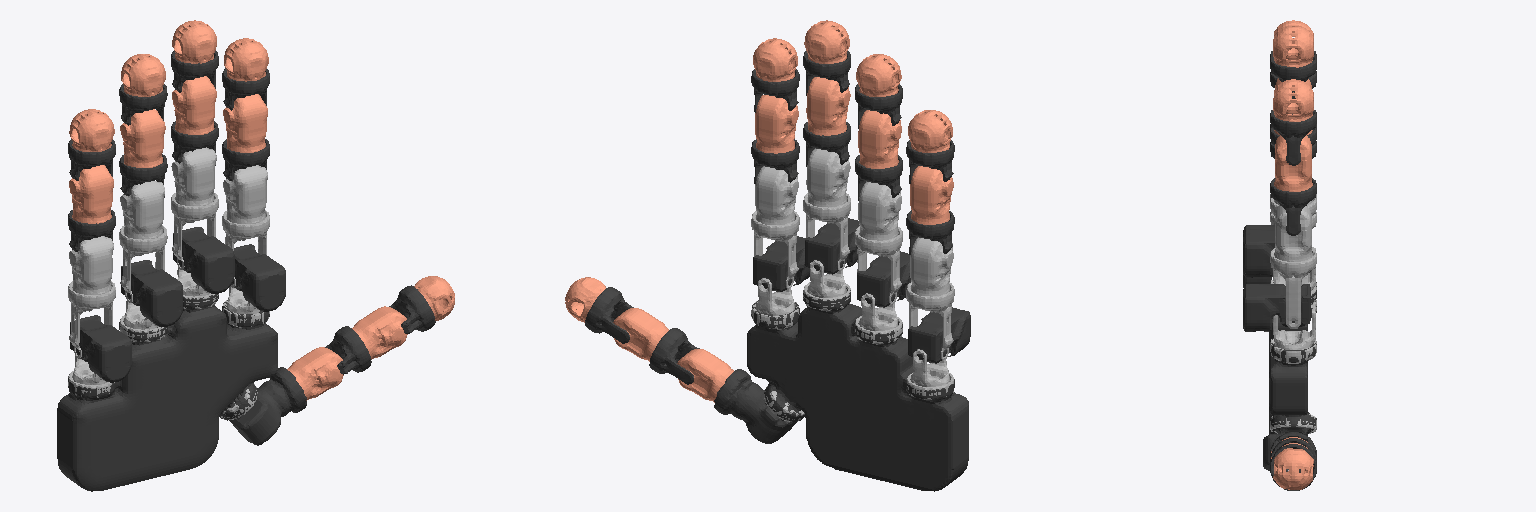
--- Render facts (derived) ---
The picture shows the robot from 3 angles, left to right: view 1: azimuth 30°, elevation 25°; view 2: azimuth 150°, elevation 25°; view 3: azimuth 270°, elevation 25°; orthographic projection.
Model hand_robot with 60 links and 59 joints (19 revolute, 40 fixed), rooted at base_link, posed all joints at 0.
Visible links, largest first — view 1: base_link, thumb_module1_link1, middle_module1_link1, ring_module1_link1, little_module1_link1, index_module1_link1, little_module2_base_link, index_module2_base_link, ring_module2_base_link, middle_module2_base_link, ring_module3_base_link, index_module3_base_link (+24 smaller); view 2: base_link, thumb_module1_link1, little_module1_link1, middle_module3_base_link, ring_module3_base_link, little_module3_base_link, little_module2_base_link, ring_module2_base_link, index_module3_base_link, middle_module2_base_link, index_module2_base_link, index_module1_link1 (+27 smaller); view 3: base_link, index_module1_link1, index_module2_base_link, index_module3_base_link, index_module1_link2, index_module4_base_link, middle_module4_base_link, middle_module1_link1, thumb_module4_base_link, index_module2_link1, index_module3_link1, index_module1_base_link (+2 smaller).
Boxes of the visible links, box(x1,y1,x2,y2) form: base_link: box(57, 294, 277, 491); thumb_module1_link1: box(229, 367, 306, 445); middle_module1_link1: box(173, 227, 234, 293); ring_module1_link1: box(121, 260, 182, 326); little_module1_link1: box(70, 315, 131, 382); index_module1_link1: box(232, 244, 285, 311); little_module2_base_link: box(69, 236, 113, 294); index_module2_base_link: box(223, 165, 267, 223); ring_module2_base_link: box(120, 181, 164, 239); middle_module2_base_link: box(171, 147, 216, 205); ring_module3_base_link: box(120, 109, 165, 167); index_module3_base_link: box(223, 94, 267, 152); base_link: box(747, 288, 968, 491); thumb_module1_link1: box(714, 369, 796, 443); little_module1_link1: box(908, 307, 970, 363); middle_module3_base_link: box(806, 77, 850, 135); ring_module3_base_link: box(858, 110, 901, 168); little_module3_base_link: box(910, 166, 953, 224); little_module2_base_link: box(910, 237, 953, 296); ring_module2_base_link: box(858, 181, 901, 240); index_module3_base_link: box(755, 95, 798, 153); middle_module2_base_link: box(806, 148, 850, 207); index_module2_base_link: box(755, 166, 798, 224); index_module1_link1: box(753, 236, 809, 291); base_link: box(1269, 282, 1316, 434); index_module1_link1: box(1243, 284, 1311, 331); index_module2_base_link: box(1274, 204, 1312, 261); index_module3_base_link: box(1274, 135, 1312, 191); index_module1_link2: box(1270, 248, 1316, 328); index_module4_base_link: box(1273, 79, 1313, 121); middle_module4_base_link: box(1273, 25, 1313, 67); middle_module1_link1: box(1243, 229, 1274, 277); thumb_module4_base_link: box(1273, 448, 1313, 489); index_module2_link1: box(1270, 178, 1316, 235); index_module3_link1: box(1270, 110, 1316, 165); index_module1_base_link: box(1273, 306, 1315, 349).
Size in the robot's own frame: 0.4164 by 0.0704 by 0.446 metres.
Meshes: 20 distinct files referenced, 60 mesh visuals loaded (20 Collada DAE).

robot.urdf — hand_robot:
<?xml version='1.0' encoding='UTF-8'?>
<robot name="hand_robot">
  <link name="base_link">
    <inertial>
      <origin xyz="-0.0537837189568639 -0.000735089523891269 0.0875877825389031" rpy="0.0 -0.0 0.0"/>
      <mass value="0.274553101575067"/>
      <inertia ixx="0.000434149537516523" ixy="3.82592618679265e-06" ixz="-0.000192550140415889" iyy="0.00117466284857924" iyz="1.01174695313173e-05" izz="0.000782483739198173"/>
    </inertial>
    <visual>
      <geometry>
        <mesh filename="package://palm/meshes/base_link_remeshed.dae"/>
      </geometry>
      <material name="__unnamed_material_1"/>
      <origin xyz="0.0 0.0 0.0" rpy="0.0 -0.0 0.0"/>
    </visual>
    <collision>
      <geometry>
        <mesh filename="package://palm/meshes/base_link_remeshed.stl"/>
      </geometry>
      <origin xyz="0.0 0.0 0.0" rpy="0.0 -0.0 0.0"/>
    </collision>
  </link>
  <link name="dummy_link1">
    <inertial>
      <origin xyz="-0.000172481557313531 6.01982933235365e-05 -0.00259009685862507" rpy="0.0 -0.0 0.0"/>
      <mass value="0.0119886897783525"/>
      <inertia ixx="1.92006679954346e-06" ixy="2.28901701935475e-09" ixz="-5.68819834183881e-09" iyy="1.95430556833594e-06" iyz="6.27899886931677e-10" izz="3.69885599478183e-06"/>
    </inertial>
    <visual>
      <geometry>
        <mesh filename="package://palm/meshes/dummy_link1_remeshed.dae"/>
      </geometry>
      <material name="__unnamed_material_2"/>
      <origin xyz="0.0 0.0 0.0" rpy="0.0 -0.0 0.0"/>
    </visual>
    <collision>
      <geometry>
        <mesh filename="package://palm/meshes/dummy_link1_remeshed.stl"/>
      </geometry>
      <origin xyz="0.0 0.0 0.0" rpy="0.0 -0.0 0.0"/>
    </collision>
  </link>
  <link name="dummy_link2">
    <inertial>
      <origin xyz="-0.000172481557313628 6.01982933235283e-05 -0.00259009685862507" rpy="0.0 -0.0 0.0"/>
      <mass value="0.0119886897783526"/>
      <inertia ixx="1.92006679954346e-06" ixy="2.28901701935204e-09" ixz="-5.68819834183908e-09" iyy="1.95430556833594e-06" iyz="6.27899886931739e-10" izz="3.69885599478183e-06"/>
    </inertial>
    <visual>
      <geometry>
        <mesh filename="package://palm/meshes/dummy_link2_remeshed.dae"/>
      </geometry>
      <material name="__unnamed_material_3"/>
      <origin xyz="0.0 0.0 0.0" rpy="0.0 -0.0 0.0"/>
    </visual>
    <collision>
      <geometry>
        <mesh filename="package://palm/meshes/dummy_link2_remeshed.stl"/>
      </geometry>
      <origin xyz="0.0 0.0 0.0" rpy="0.0 -0.0 0.0"/>
    </collision>
  </link>
  <link name="dummy_link3">
    <inertial>
      <origin xyz="-0.000172481557313607 6.01982933235322e-05 -0.00259009685862505" rpy="0.0 -0.0 0.0"/>
      <mass value="0.0119886897783526"/>
      <inertia ixx="1.92006679954346e-06" ixy="2.28901701935102e-09" ixz="-5.68819834183894e-09" iyy="1.95430556833594e-06" iyz="6.2789988693156e-10" izz="3.69885599478183e-06"/>
    </inertial>
    <visual>
      <geometry>
        <mesh filename="package://palm/meshes/dummy_link3_remeshed.dae"/>
      </geometry>
      <material name="__unnamed_material_4"/>
      <origin xyz="0.0 0.0 0.0" rpy="0.0 -0.0 0.0"/>
    </visual>
    <collision>
      <geometry>
        <mesh filename="package://palm/meshes/dummy_link3_remeshed.stl"/>
      </geometry>
      <origin xyz="0.0 0.0 0.0" rpy="0.0 -0.0 0.0"/>
    </collision>
  </link>
  <link name="dummy_link4">
    <inertial>
      <origin xyz="-0.00017248155731359 6.01982933235428e-05 -0.00259009685862505" rpy="0.0 -0.0 0.0"/>
      <mass value="0.0119886897783526"/>
      <inertia ixx="1.92006679954347e-06" ixy="2.28901701935341e-09" ixz="-5.68819834183874e-09" iyy="1.95430556833594e-06" iyz="6.27899886931517e-10" izz="3.69885599478184e-06"/>
    </inertial>
    <visual>
      <geometry>
        <mesh filename="package://palm/meshes/dummy_link4_remeshed.dae"/>
      </geometry>
      <material name="__unnamed_material_5"/>
      <origin xyz="0.0 0.0 0.0" rpy="0.0 -0.0 0.0"/>
    </visual>
    <collision>
      <geometry>
        <mesh filename="package://palm/meshes/dummy_link4_remeshed.stl"/>
      </geometry>
      <origin xyz="0.0 0.0 0.0" rpy="0.0 -0.0 0.0"/>
    </collision>
  </link>
  <link name="dummy_link5">
    <inertial>
      <origin xyz="-0.000172556814431887 6.02216550355177e-05 -0.00259010777209796" rpy="0.0 -0.0 0.0"/>
      <mass value="0.0119886601362974"/>
      <inertia ixx="1.9201418091373e-06" ixy="2.27696720708466e-09" ixz="-5.68868325973998e-09" iyy="1.95428446813742e-06" iyz="6.2782306321744e-10" izz="3.6989097395101e-06"/>
    </inertial>
    <visual>
      <geometry>
        <mesh filename="package://palm/meshes/dummy_link5_remeshed.dae"/>
      </geometry>
      <material name="__unnamed_material_6"/>
      <origin xyz="0.0 0.0 0.0" rpy="0.0 -0.0 0.0"/>
    </visual>
    <collision>
      <geometry>
        <mesh filename="package://palm/meshes/dummy_link5_remeshed.stl"/>
      </geometry>
      <origin xyz="0.0 0.0 0.0" rpy="0.0 -0.0 0.0"/>
    </collision>
  </link>
  <link name="little_module1_base_link">
    <inertial>
      <origin xyz="-0.000213433946328543 -0.000522257566248314 0.010512356078851" rpy="0.0 -0.0 0.0"/>
      <mass value="0.0119791718336502"/>
      <inertia ixx="1.31621870893497e-06" ixy="-5.13940617703683e-09" ixz="6.92655022774858e-09" iyy="1.42670892278346e-06" iyz="5.85355266632325e-09" izz="1.57468742862286e-06"/>
    </inertial>
    <visual>
      <geometry>
        <mesh filename="package://screw_cross_module_cover_invert_50mm/meshes/base_link_remeshed.dae"/>
      </geometry>
      <material name="little_module1___unnamed_material_1"/>
      <origin xyz="0.0 0.0 0.0" rpy="0.0 -0.0 0.0"/>
    </visual>
    <collision>
      <geometry>
        <mesh filename="package://screw_cross_module_cover_invert_50mm/meshes/base_link_remeshed.stl"/>
      </geometry>
      <origin xyz="0.0 0.0 0.0" rpy="0.0 -0.0 0.0"/>
    </collision>
  </link>
  <link name="little_module1_link1">
    <inertial>
      <origin xyz="2.40548098907604e-05 0.0170200166175038 0.00743211422338727" rpy="0.0 -0.0 0.0"/>
      <mass value="0.0528420021206123"/>
      <inertia ixx="8.46927525862569e-06" ixy="3.77104103813554e-08" ixz="-2.40264131836263e-09" iyy="9.18514204610879e-06" iyz="3.33117292501083e-07" izz="7.42897064027825e-06"/>
    </inertial>
    <visual>
      <geometry>
        <mesh filename="package://screw_cross_module_cover_invert_50mm/meshes/link1_remeshed.dae"/>
      </geometry>
      <material name="little_module1___unnamed_material_2"/>
      <origin xyz="0.0 0.0 0.0" rpy="0.0 -0.0 0.0"/>
    </visual>
    <collision>
      <geometry>
        <mesh filename="package://screw_cross_module_cover_invert_50mm/meshes/link1_remeshed.stl"/>
      </geometry>
      <origin xyz="0.0 0.0 0.0" rpy="0.0 -0.0 0.0"/>
    </collision>
  </link>
  <link name="little_module1_link2">
    <inertial>
      <origin xyz="-0.000799904651096249 0.000126545018078978 0.0439031855091127" rpy="0.0 -0.0 0.0"/>
      <mass value="0.0184890044461961"/>
      <inertia ixx="3.86018266499349e-06" ixy="-2.57346007074634e-09" ixz="-1.33830705751634e-08" iyy="3.71216828080987e-06" iyz="1.02631852497554e-09" izz="3.85438258007771e-06"/>
    </inertial>
    <visual>
      <geometry>
        <mesh filename="package://screw_cross_module_cover_invert_50mm/meshes/link2_remeshed.dae"/>
      </geometry>
      <material name="little_module1___unnamed_material_3"/>
      <origin xyz="0.0 0.0 0.0" rpy="0.0 -0.0 0.0"/>
    </visual>
    <collision>
      <geometry>
        <mesh filename="package://screw_cross_module_cover_invert_50mm/meshes/link2_remeshed.stl"/>
      </geometry>
      <origin xyz="0.0 0.0 0.0" rpy="0.0 -0.0 0.0"/>
    </collision>
  </link>
  <link name="little_module1_dummy_link">
    <inertial>
      <origin xyz="-0.00146131369472048 0.000201870283507455 -0.00283550060362608" rpy="0.0 -0.0 0.0"/>
      <mass value="0.00131295075943631"/>
      <inertia ixx="5.41755504446202e-08" ixy="1.27650591705179e-09" ixz="-4.82976525885559e-09" iyy="5.88144881419791e-08" iyz="3.56234285318554e-10" izz="1.05520720481508e-07"/>
    </inertial>
    <visual>
      <geometry>
        <mesh filename="package://screw_cross_module_cover_invert_50mm/meshes/dummy_link_remeshed.dae"/>
      </geometry>
      <material name="little_module1___unnamed_material_4"/>
      <origin xyz="0.0 0.0 0.0" rpy="0.0 -0.0 0.0"/>
    </visual>
    <collision>
      <geometry>
        <mesh filename="package://screw_cross_module_cover_invert_50mm/meshes/dummy_link_remeshed.stl"/>
      </geometry>
      <origin xyz="0.0 0.0 0.0" rpy="0.0 -0.0 0.0"/>
    </collision>
  </link>
  <link name="little_module2_base_link">
    <inertial>
      <origin xyz="-0.000397243037985137 -0.000299123988951571 0.0268900174967925" rpy="0.0 -0.0 0.0"/>
      <mass value="0.0392907478850212"/>
      <inertia ixx="6.49315163386437e-06" ixy="-1.58700153015025e-07" ixz="1.07943557378575e-07" iyy="7.59585884582494e-06" iyz="-1.02493309535865e-09" izz="5.32693747823652e-06"/>
    </inertial>
    <visual>
      <geometry>
        <mesh filename="package://screw_26mmhinge_module_cover_0deg/meshes/base_link_remeshed.dae"/>
      </geometry>
      <material name="little_module2___unnamed_material_1"/>
      <origin xyz="0.0 0.0 0.0" rpy="0.0 -0.0 0.0"/>
    </visual>
    <collision>
      <geometry>
        <mesh filename="package://screw_26mmhinge_module_cover_0deg/meshes/base_link_remeshed.stl"/>
      </geometry>
      <origin xyz="0.0 0.0 0.0" rpy="0.0 -0.0 0.0"/>
    </collision>
  </link>
  <link name="little_module2_link1">
    <inertial>
      <origin xyz="0.00050176181802974 0.000131881332311372 0.0261566388593281" rpy="0.0 -0.0 0.0"/>
      <mass value="0.015679495466009"/>
      <inertia ixx="2.36251577154097e-06" ixy="-2.28902268828607e-09" ixz="1.04881203366641e-08" iyy="2.26742863290264e-06" iyz="5.68818291644029e-09" izz="3.78920030884968e-06"/>
    </inertial>
    <visual>
      <geometry>
        <mesh filename="package://screw_26mmhinge_module_cover_0deg/meshes/link1_remeshed.dae"/>
      </geometry>
      <material name="little_module2___unnamed_material_2"/>
      <origin xyz="0.0 0.0 0.0" rpy="0.0 -0.0 0.0"/>
    </visual>
    <collision>
      <geometry>
        <mesh filename="package://screw_26mmhinge_module_cover_0deg/meshes/link1_remeshed.stl"/>
      </geometry>
      <origin xyz="0.0 0.0 0.0" rpy="0.0 -0.0 0.0"/>
    </collision>
  </link>
  <link name="little_module2_dummy_link">
    <inertial>
      <origin xyz="-0.0014613136949066 0.000201870283592702 -0.00283550060370832" rpy="0.0 -0.0 0.0"/>
      <mass value="0.00131295075943631"/>
      <inertia ixx="5.41755504446753e-08" ixy="1.27650591704971e-09" ixz="-4.82976525914748e-09" iyy="5.88144881419792e-08" iyz="3.56234285325651e-10" izz="1.05520720481453e-07"/>
    </inertial>
    <visual>
      <geometry>
        <mesh filename="package://screw_26mmhinge_module_cover_0deg/meshes/dummy_link_remeshed.dae"/>
      </geometry>
      <material name="little_module2___unnamed_material_3"/>
      <origin xyz="0.0 0.0 0.0" rpy="0.0 -0.0 0.0"/>
    </visual>
    <collision>
      <geometry>
        <mesh filename="package://screw_26mmhinge_module_cover_0deg/meshes/dummy_link_remeshed.stl"/>
      </geometry>
      <origin xyz="0.0 0.0 0.0" rpy="0.0 -0.0 0.0"/>
    </collision>
  </link>
  <link name="little_module3_base_link">
    <inertial>
      <origin xyz="-0.000401252669389229 -0.000241503883848603 0.0265833789284656" rpy="0.0 -0.0 0.0"/>
      <mass value="0.0388983022333583"/>
      <inertia ixx="6.28968153745185e-06" ixy="-1.58891717516252e-07" ixz="1.06958872572826e-07" iyy="7.30853508101172e-06" iyz="2.75384527151901e-08" izz="5.23270325750328e-06"/>
    </inertial>
    <visual>
      <geometry>
        <mesh filename="package://screw_26mmhinge_module_cover_40deg/meshes/base_link_remeshed.dae"/>
      </geometry>
      <material name="little_module3___unnamed_material_1"/>
      <origin xyz="0.0 0.0 0.0" rpy="0.0 -0.0 0.0"/>
    </visual>
    <collision>
      <geometry>
        <mesh filename="package://screw_26mmhinge_module_cover_40deg/meshes/base_link_remeshed.stl"/>
      </geometry>
      <origin xyz="0.0 0.0 0.0" rpy="0.0 -0.0 0.0"/>
    </collision>
  </link>
  <link name="little_module3_link1">
    <inertial>
      <origin xyz="0.00050176181802974 0.000131881332311375 0.0261566388593281" rpy="0.0 -0.0 0.0"/>
      <mass value="0.0156794954660089"/>
      <inertia ixx="2.36251577154097e-06" ixy="-2.28902268828719e-09" ixz="1.04881203366649e-08" iyy="2.26742863290264e-06" iyz="5.68818291644002e-09" izz="3.78920030884968e-06"/>
    </inertial>
    <visual>
      <geometry>
        <mesh filename="package://screw_26mmhinge_module_cover_40deg/meshes/link1_remeshed.dae"/>
      </geometry>
      <material name="little_module3___unnamed_material_2"/>
      <origin xyz="0.0 0.0 0.0" rpy="0.0 -0.0 0.0"/>
    </visual>
    <collision>
      <geometry>
        <mesh filename="package://screw_26mmhinge_module_cover_40deg/meshes/link1_remeshed.stl"/>
      </geometry>
      <origin xyz="0.0 0.0 0.0" rpy="0.0 -0.0 0.0"/>
    </collision>
  </link>
  <link name="little_module3_dummy_link">
    <inertial>
      <origin xyz="-0.0014613136949066 0.000201870283592712 -0.00283550060370834" rpy="0.0 -0.0 0.0"/>
      <mass value="0.00131295075943631"/>
      <inertia ixx="5.41755504446752e-08" ixy="1.27650591704971e-09" ixz="-4.82976525914747e-09" iyy="5.88144881419792e-08" iyz="3.56234285325664e-10" izz="1.05520720481453e-07"/>
    </inertial>
    <visual>
      <geometry>
        <mesh filename="package://screw_26mmhinge_module_cover_40deg/meshes/dummy_link_remeshed.dae"/>
      </geometry>
      <material name="little_module3___unnamed_material_3"/>
      <origin xyz="0.0 0.0 0.0" rpy="0.0 -0.0 0.0"/>
    </visual>
    <collision>
      <geometry>
        <mesh filename="package://screw_26mmhinge_module_cover_40deg/meshes/dummy_link_remeshed.stl"/>
      </geometry>
      <origin xyz="0.0 0.0 0.0" rpy="0.0 -0.0 0.0"/>
    </collision>
  </link>
  <link name="little_module4_base_link">
    <inertial>
      <origin xyz="-4.45136749414631e-05 2.74911354251475e-05 0.01526296474957" rpy="0.0 -0.0 0.0"/>
      <mass value="0.0143355339373342"/>
      <inertia ixx="1.67198153889703e-06" ixy="-3.86118634343168e-09" ixz="2.09684473771432e-09" iyy="2.41636111915256e-06" iyz="2.62797611358753e-09" izz="2.60259577595367e-06"/>
    </inertial>
    <visual>
      <geometry>
        <mesh filename="package://fingertip/meshes/base_link_remeshed.dae"/>
      </geometry>
      <material name="little_module4___unnamed_material_1"/>
      <origin xyz="0.0 0.0 0.0" rpy="0.0 -0.0 0.0"/>
    </visual>
    <collision>
      <geometry>
        <mesh filename="package://fingertip/meshes/base_link_remeshed.stl"/>
      </geometry>
      <origin xyz="0.0 0.0 0.0" rpy="0.0 -0.0 0.0"/>
    </collision>
  </link>
  <link name="ring_module1_base_link">
    <inertial>
      <origin xyz="-0.000213433946328543 -0.000522257566248314 0.010512356078851" rpy="0.0 -0.0 0.0"/>
      <mass value="0.0119791718336502"/>
      <inertia ixx="1.31621870893497e-06" ixy="-5.13940617703683e-09" ixz="6.92655022774858e-09" iyy="1.42670892278346e-06" iyz="5.85355266632325e-09" izz="1.57468742862286e-06"/>
    </inertial>
    <visual>
      <geometry>
        <mesh filename="package://screw_cross_module_cover_invert_50mm/meshes/base_link_remeshed.dae"/>
      </geometry>
      <material name="ring_module1___unnamed_material_1"/>
      <origin xyz="0.0 0.0 0.0" rpy="0.0 -0.0 0.0"/>
    </visual>
    <collision>
      <geometry>
        <mesh filename="package://screw_cross_module_cover_invert_50mm/meshes/base_link_remeshed.stl"/>
      </geometry>
      <origin xyz="0.0 0.0 0.0" rpy="0.0 -0.0 0.0"/>
    </collision>
  </link>
  <link name="ring_module1_link1">
    <inertial>
      <origin xyz="2.40548098907604e-05 0.0170200166175038 0.00743211422338727" rpy="0.0 -0.0 0.0"/>
      <mass value="0.0528420021206123"/>
      <inertia ixx="8.46927525862569e-06" ixy="3.77104103813554e-08" ixz="-2.40264131836263e-09" iyy="9.18514204610879e-06" iyz="3.33117292501083e-07" izz="7.42897064027825e-06"/>
    </inertial>
    <visual>
      <geometry>
        <mesh filename="package://screw_cross_module_cover_invert_50mm/meshes/link1_remeshed.dae"/>
      </geometry>
      <material name="ring_module1___unnamed_material_2"/>
      <origin xyz="0.0 0.0 0.0" rpy="0.0 -0.0 0.0"/>
    </visual>
    <collision>
      <geometry>
        <mesh filename="package://screw_cross_module_cover_invert_50mm/meshes/link1_remeshed.stl"/>
      </geometry>
      <origin xyz="0.0 0.0 0.0" rpy="0.0 -0.0 0.0"/>
    </collision>
  </link>
  <link name="ring_module1_link2">
    <inertial>
      <origin xyz="-0.000799904651096249 0.000126545018078978 0.0439031855091127" rpy="0.0 -0.0 0.0"/>
      <mass value="0.0184890044461961"/>
      <inertia ixx="3.86018266499349e-06" ixy="-2.57346007074634e-09" ixz="-1.33830705751634e-08" iyy="3.71216828080987e-06" iyz="1.02631852497554e-09" izz="3.85438258007771e-06"/>
    </inertial>
    <visual>
      <geometry>
        <mesh filename="package://screw_cross_module_cover_invert_50mm/meshes/link2_remeshed.dae"/>
      </geometry>
      <material name="ring_module1___unnamed_material_3"/>
      <origin xyz="0.0 0.0 0.0" rpy="0.0 -0.0 0.0"/>
    </visual>
    <collision>
      <geometry>
        <mesh filename="package://screw_cross_module_cover_invert_50mm/meshes/link2_remeshed.stl"/>
      </geometry>
      <origin xyz="0.0 0.0 0.0" rpy="0.0 -0.0 0.0"/>
    </collision>
  </link>
  <link name="ring_module1_dummy_link">
    <inertial>
      <origin xyz="-0.00146131369472048 0.000201870283507455 -0.00283550060362608" rpy="0.0 -0.0 0.0"/>
      <mass value="0.00131295075943631"/>
      <inertia ixx="5.41755504446202e-08" ixy="1.27650591705179e-09" ixz="-4.82976525885559e-09" iyy="5.88144881419791e-08" iyz="3.56234285318554e-10" izz="1.05520720481508e-07"/>
    </inertial>
    <visual>
      <geometry>
        <mesh filename="package://screw_cross_module_cover_invert_50mm/meshes/dummy_link_remeshed.dae"/>
      </geometry>
      <material name="ring_module1___unnamed_material_4"/>
      <origin xyz="0.0 0.0 0.0" rpy="0.0 -0.0 0.0"/>
    </visual>
    <collision>
      <geometry>
        <mesh filename="package://screw_cross_module_cover_invert_50mm/meshes/dummy_link_remeshed.stl"/>
      </geometry>
      <origin xyz="0.0 0.0 0.0" rpy="0.0 -0.0 0.0"/>
    </collision>
  </link>
  <link name="ring_module2_base_link">
    <inertial>
      <origin xyz="-0.000397243037985137 -0.000299123988951571 0.0268900174967925" rpy="0.0 -0.0 0.0"/>
      <mass value="0.0392907478850212"/>
      <inertia ixx="6.49315163386437e-06" ixy="-1.58700153015025e-07" ixz="1.07943557378575e-07" iyy="7.59585884582494e-06" iyz="-1.02493309535865e-09" izz="5.32693747823652e-06"/>
    </inertial>
    <visual>
      <geometry>
        <mesh filename="package://screw_26mmhinge_module_cover_0deg/meshes/base_link_remeshed.dae"/>
      </geometry>
      <material name="ring_module2___unnamed_material_1"/>
      <origin xyz="0.0 0.0 0.0" rpy="0.0 -0.0 0.0"/>
    </visual>
    <collision>
      <geometry>
        <mesh filename="package://screw_26mmhinge_module_cover_0deg/meshes/base_link_remeshed.stl"/>
      </geometry>
      <origin xyz="0.0 0.0 0.0" rpy="0.0 -0.0 0.0"/>
    </collision>
  </link>
  <link name="ring_module2_link1">
    <inertial>
      <origin xyz="0.00050176181802974 0.000131881332311372 0.0261566388593281" rpy="0.0 -0.0 0.0"/>
      <mass value="0.015679495466009"/>
      <inertia ixx="2.36251577154097e-06" ixy="-2.28902268828607e-09" ixz="1.04881203366641e-08" iyy="2.26742863290264e-06" iyz="5.68818291644029e-09" izz="3.78920030884968e-06"/>
    </inertial>
    <visual>
      <geometry>
        <mesh filename="package://screw_26mmhinge_module_cover_0deg/meshes/link1_remeshed.dae"/>
      </geometry>
      <material name="ring_module2___unnamed_material_2"/>
      <origin xyz="0.0 0.0 0.0" rpy="0.0 -0.0 0.0"/>
    </visual>
    <collision>
      <geometry>
        <mesh filename="package://screw_26mmhinge_module_cover_0deg/meshes/link1_remeshed.stl"/>
      </geometry>
      <origin xyz="0.0 0.0 0.0" rpy="0.0 -0.0 0.0"/>
    </collision>
  </link>
  <link name="ring_module2_dummy_link">
    <inertial>
      <origin xyz="-0.0014613136949066 0.000201870283592702 -0.00283550060370832" rpy="0.0 -0.0 0.0"/>
      <mass value="0.00131295075943631"/>
      <inertia ixx="5.41755504446753e-08" ixy="1.27650591704971e-09" ixz="-4.82976525914748e-09" iyy="5.88144881419792e-08" iyz="3.56234285325651e-10" izz="1.05520720481453e-07"/>
    </inertial>
    <visual>
      <geometry>
        <mesh filename="package://screw_26mmhinge_module_cover_0deg/meshes/dummy_link_remeshed.dae"/>
      </geometry>
      <material name="ring_module2___unnamed_material_3"/>
      <origin xyz="0.0 0.0 0.0" rpy="0.0 -0.0 0.0"/>
    </visual>
    <collision>
      <geometry>
        <mesh filename="package://screw_26mmhinge_module_cover_0deg/meshes/dummy_link_remeshed.stl"/>
      </geometry>
      <origin xyz="0.0 0.0 0.0" rpy="0.0 -0.0 0.0"/>
    </collision>
  </link>
  <link name="ring_module3_base_link">
    <inertial>
      <origin xyz="-0.000401252669389229 -0.000241503883848603 0.0265833789284656" rpy="0.0 -0.0 0.0"/>
      <mass value="0.0388983022333583"/>
      <inertia ixx="6.28968153745185e-06" ixy="-1.58891717516252e-07" ixz="1.06958872572826e-07" iyy="7.30853508101172e-06" iyz="2.75384527151901e-08" izz="5.23270325750328e-06"/>
    </inertial>
    <visual>
      <geometry>
        <mesh filename="package://screw_26mmhinge_module_cover_40deg/meshes/base_link_remeshed.dae"/>
      </geometry>
      <material name="ring_module3___unnamed_material_1"/>
      <origin xyz="0.0 0.0 0.0" rpy="0.0 -0.0 0.0"/>
    </visual>
    <collision>
      <geometry>
        <mesh filename="package://screw_26mmhinge_module_cover_40deg/meshes/base_link_remeshed.stl"/>
      </geometry>
      <origin xyz="0.0 0.0 0.0" rpy="0.0 -0.0 0.0"/>
    </collision>
  </link>
  <link name="ring_module3_link1">
    <inertial>
      <origin xyz="0.00050176181802974 0.000131881332311375 0.0261566388593281" rpy="0.0 -0.0 0.0"/>
      <mass value="0.0156794954660089"/>
      <inertia ixx="2.36251577154097e-06" ixy="-2.28902268828719e-09" ixz="1.04881203366649e-08" iyy="2.26742863290264e-06" iyz="5.68818291644002e-09" izz="3.78920030884968e-06"/>
    </inertial>
    <visual>
      <geometry>
        <mesh filename="package://screw_26mmhinge_module_cover_40deg/meshes/link1_remeshed.dae"/>
      </geometry>
      <material name="ring_module3___unnamed_material_2"/>
      <origin xyz="0.0 0.0 0.0" rpy="0.0 -0.0 0.0"/>
    </visual>
    <collision>
      <geometry>
        <mesh filename="package://screw_26mmhinge_module_cover_40deg/meshes/link1_remeshed.stl"/>
      </geometry>
      <origin xyz="0.0 0.0 0.0" rpy="0.0 -0.0 0.0"/>
    </collision>
  </link>
  <link name="ring_module3_dummy_link">
    <inertial>
      <origin xyz="-0.0014613136949066 0.000201870283592712 -0.00283550060370834" rpy="0.0 -0.0 0.0"/>
      <mass value="0.00131295075943631"/>
      <inertia ixx="5.41755504446752e-08" ixy="1.27650591704971e-09" ixz="-4.82976525914747e-09" iyy="5.88144881419792e-08" iyz="3.56234285325664e-10" izz="1.05520720481453e-07"/>
    </inertial>
    <visual>
      <geometry>
        <mesh filename="package://screw_26mmhinge_module_cover_40deg/meshes/dummy_link_remeshed.dae"/>
      </geometry>
      <material name="ring_module3___unnamed_material_3"/>
      <origin xyz="0.0 0.0 0.0" rpy="0.0 -0.0 0.0"/>
    </visual>
    <collision>
      <geometry>
        <mesh filename="package://screw_26mmhinge_module_cover_40deg/meshes/dummy_link_remeshed.stl"/>
      </geometry>
      <origin xyz="0.0 0.0 0.0" rpy="0.0 -0.0 0.0"/>
    </collision>
  </link>
  <link name="ring_module4_base_link">
    <inertial>
      <origin xyz="-4.45136749414631e-05 2.74911354251475e-05 0.01526296474957" rpy="0.0 -0.0 0.0"/>
      <mass value="0.0143355339373342"/>
      <inertia ixx="1.67198153889703e-06" ixy="-3.86118634343168e-09" ixz="2.09684473771432e-09" iyy="2.41636111915256e-06" iyz="2.62797611358753e-09" izz="2.60259577595367e-06"/>
    </inertial>
    <visual>
      <geometry>
        <mesh filename="package://fingertip/meshes/base_link_remeshed.dae"/>
      </geometry>
      <material name="ring_module4___unnamed_material_1"/>
      <origin xyz="0.0 0.0 0.0" rpy="0.0 -0.0 0.0"/>
    </visual>
    <collision>
      <geometry>
        <mesh filename="package://fingertip/meshes/base_link_remeshed.stl"/>
      </geometry>
      <origin xyz="0.0 0.0 0.0" rpy="0.0 -0.0 0.0"/>
    </collision>
  </link>
  <link name="middle_module1_base_link">
    <inertial>
      <origin xyz="-0.000213433946328543 -0.000522257566248314 0.010512356078851" rpy="0.0 -0.0 0.0"/>
      <mass value="0.0119791718336502"/>
      <inertia ixx="1.31621870893497e-06" ixy="-5.13940617703683e-09" ixz="6.92655022774858e-09" iyy="1.42670892278346e-06" iyz="5.85355266632325e-09" izz="1.57468742862286e-06"/>
    </inertial>
    <visual>
      <geometry>
        <mesh filename="package://screw_cross_module_cover_invert_50mm/meshes/base_link_remeshed.dae"/>
      </geometry>
      <material name="middle_module1___unnamed_material_1"/>
      <origin xyz="0.0 0.0 0.0" rpy="0.0 -0.0 0.0"/>
    </visual>
    <collision>
      <geometry>
        <mesh filename="package://screw_cross_module_cover_invert_50mm/meshes/base_link_remeshed.stl"/>
      </geometry>
      <origin xyz="0.0 0.0 0.0" rpy="0.0 -0.0 0.0"/>
    </collision>
  </link>
  <link name="middle_module1_link1">
    <inertial>
      <origin xyz="2.40548098907604e-05 0.0170200166175038 0.00743211422338727" rpy="0.0 -0.0 0.0"/>
      <mass value="0.0528420021206123"/>
      <inertia ixx="8.46927525862569e-06" ixy="3.77104103813554e-08" ixz="-2.40264131836263e-09" iyy="9.18514204610879e-06" iyz="3.33117292501083e-07" izz="7.42897064027825e-06"/>
    </inertial>
    <visual>
      <geometry>
        <mesh filename="package://screw_cross_module_cover_invert_50mm/meshes/link1_remeshed.dae"/>
      </geometry>
      <material name="middle_module1___unnamed_material_2"/>
      <origin xyz="0.0 0.0 0.0" rpy="0.0 -0.0 0.0"/>
    </visual>
    <collision>
      <geometry>
        <mesh filename="package://screw_cross_module_cover_invert_50mm/meshes/link1_remeshed.stl"/>
      </geometry>
      <origin xyz="0.0 0.0 0.0" rpy="0.0 -0.0 0.0"/>
    </collision>
  </link>
  <link name="middle_module1_link2">
    <inertial>
      <origin xyz="-0.000799904651096249 0.000126545018078978 0.0439031855091127" rpy="0.0 -0.0 0.0"/>
      <mass value="0.0184890044461961"/>
      <inertia ixx="3.86018266499349e-06" ixy="-2.57346007074634e-09" ixz="-1.33830705751634e-08" iyy="3.71216828080987e-06" iyz="1.02631852497554e-09" izz="3.85438258007771e-06"/>
    </inertial>
    <visual>
      <geometry>
        <mesh filename="package://screw_cross_module_cover_invert_50mm/meshes/link2_remeshed.dae"/>
      </geometry>
      <material name="middle_module1___unnamed_material_3"/>
      <origin xyz="0.0 0.0 0.0" rpy="0.0 -0.0 0.0"/>
    </visual>
    <collision>
      <geometry>
        <mesh filename="package://screw_cross_module_cover_invert_50mm/meshes/link2_remeshed.stl"/>
      </geometry>
      <origin xyz="0.0 0.0 0.0" rpy="0.0 -0.0 0.0"/>
    </collision>
  </link>
  <link name="middle_module1_dummy_link">
    <inertial>
      <origin xyz="-0.00146131369472048 0.000201870283507455 -0.00283550060362608" rpy="0.0 -0.0 0.0"/>
      <mass value="0.00131295075943631"/>
      <inertia ixx="5.41755504446202e-08" ixy="1.27650591705179e-09" ixz="-4.82976525885559e-09" iyy="5.88144881419791e-08" iyz="3.56234285318554e-10" izz="1.05520720481508e-07"/>
    </inertial>
    <visual>
      <geometry>
        <mesh filename="package://screw_cross_module_cover_invert_50mm/meshes/dummy_link_remeshed.dae"/>
      </geometry>
      <material name="middle_module1___unnamed_material_4"/>
      <origin xyz="0.0 0.0 0.0" rpy="0.0 -0.0 0.0"/>
    </visual>
    <collision>
      <geometry>
        <mesh filename="package://screw_cross_module_cover_invert_50mm/meshes/dummy_link_remeshed.stl"/>
      </geometry>
      <origin xyz="0.0 0.0 0.0" rpy="0.0 -0.0 0.0"/>
    </collision>
  </link>
  <link name="middle_module2_base_link">
    <inertial>
      <origin xyz="-0.000397243037985137 -0.000299123988951571 0.0268900174967925" rpy="0.0 -0.0 0.0"/>
      <mass value="0.0392907478850212"/>
      <inertia ixx="6.49315163386437e-06" ixy="-1.58700153015025e-07" ixz="1.07943557378575e-07" iyy="7.59585884582494e-06" iyz="-1.02493309535865e-09" izz="5.32693747823652e-06"/>
    </inertial>
    <visual>
      <geometry>
        <mesh filename="package://screw_26mmhinge_module_cover_0deg/meshes/base_link_remeshed.dae"/>
      </geometry>
      <material name="middle_module2___unnamed_material_1"/>
      <origin xyz="0.0 0.0 0.0" rpy="0.0 -0.0 0.0"/>
    </visual>
    <collision>
      <geometry>
        <mesh filename="package://screw_26mmhinge_module_cover_0deg/meshes/base_link_remeshed.stl"/>
      </geometry>
      <origin xyz="0.0 0.0 0.0" rpy="0.0 -0.0 0.0"/>
    </collision>
  </link>
  <link name="middle_module2_link1">
    <inertial>
      <origin xyz="0.00050176181802974 0.000131881332311372 0.0261566388593281" rpy="0.0 -0.0 0.0"/>
      <mass value="0.015679495466009"/>
      <inertia ixx="2.36251577154097e-06" ixy="-2.28902268828607e-09" ixz="1.04881203366641e-08" iyy="2.26742863290264e-06" iyz="5.68818291644029e-09" izz="3.78920030884968e-06"/>
    </inertial>
    <visual>
      <geometry>
        <mesh filename="package://screw_26mmhinge_module_cover_0deg/meshes/link1_remeshed.dae"/>
      </geometry>
      <material name="middle_module2___unnamed_material_2"/>
      <origin xyz="0.0 0.0 0.0" rpy="0.0 -0.0 0.0"/>
    </visual>
    <collision>
      <geometry>
        <mesh filename="package://screw_26mmhinge_module_cover_0deg/meshes/link1_remeshed.stl"/>
      </geometry>
      <origin xyz="0.0 0.0 0.0" rpy="0.0 -0.0 0.0"/>
    </collision>
  </link>
  <link name="middle_module2_dummy_link">
    <inertial>
      <origin xyz="-0.0014613136949066 0.000201870283592702 -0.00283550060370832" rpy="0.0 -0.0 0.0"/>
      <mass value="0.00131295075943631"/>
      <inertia ixx="5.41755504446753e-08" ixy="1.27650591704971e-09" ixz="-4.82976525914748e-09" iyy="5.88144881419792e-08" iyz="3.56234285325651e-10" izz="1.05520720481453e-07"/>
    </inertial>
    <visual>
      <geometry>
        <mesh filename="package://screw_26mmhinge_module_cover_0deg/meshes/dummy_link_remeshed.dae"/>
      </geometry>
      <material name="middle_module2___unnamed_material_3"/>
      <origin xyz="0.0 0.0 0.0" rpy="0.0 -0.0 0.0"/>
    </visual>
    <collision>
      <geometry>
        <mesh filename="package://screw_26mmhinge_module_cover_0deg/meshes/dummy_link_remeshed.stl"/>
      </geometry>
      <origin xyz="0.0 0.0 0.0" rpy="0.0 -0.0 0.0"/>
    </collision>
  </link>
  <link name="middle_module3_base_link">
    <inertial>
      <origin xyz="-0.000401252669389229 -0.000241503883848603 0.0265833789284656" rpy="0.0 -0.0 0.0"/>
      <mass value="0.0388983022333583"/>
      <inertia ixx="6.28968153745185e-06" ixy="-1.58891717516252e-07" ixz="1.06958872572826e-07" iyy="7.30853508101172e-06" iyz="2.75384527151901e-08" izz="5.23270325750328e-06"/>
    </inertial>
    <visual>
      <geometry>
        <mesh filename="package://screw_26mmhinge_module_cover_40deg/meshes/base_link_remeshed.dae"/>
      </geometry>
      <material name="middle_module3___unnamed_material_1"/>
      <origin xyz="0.0 0.0 0.0" rpy="0.0 -0.0 0.0"/>
    </visual>
    <collision>
      <geometry>
        <mesh filename="package://screw_26mmhinge_module_cover_40deg/meshes/base_link_remeshed.stl"/>
      </geometry>
      <origin xyz="0.0 0.0 0.0" rpy="0.0 -0.0 0.0"/>
    </collision>
  </link>
  <link name="middle_module3_link1">
    <inertial>
      <origin xyz="0.00050176181802974 0.000131881332311375 0.0261566388593281" rpy="0.0 -0.0 0.0"/>
      <mass value="0.0156794954660089"/>
      <inertia ixx="2.36251577154097e-06" ixy="-2.28902268828719e-09" ixz="1.04881203366649e-08" iyy="2.26742863290264e-06" iyz="5.68818291644002e-09" izz="3.78920030884968e-06"/>
    </inertial>
    <visual>
      <geometry>
        <mesh filename="package://screw_26mmhinge_module_cover_40deg/meshes/link1_remeshed.dae"/>
      </geometry>
      <material name="middle_module3___unnamed_material_2"/>
      <origin xyz="0.0 0.0 0.0" rpy="0.0 -0.0 0.0"/>
    </visual>
    <collision>
      <geometry>
        <mesh filename="package://screw_26mmhinge_module_cover_40deg/meshes/link1_remeshed.stl"/>
      </geometry>
      <origin xyz="0.0 0.0 0.0" rpy="0.0 -0.0 0.0"/>
    </collision>
  </link>
  <link name="middle_module3_dummy_link">
    <inertial>
      <origin xyz="-0.0014613136949066 0.000201870283592712 -0.00283550060370834" rpy="0.0 -0.0 0.0"/>
      <mass value="0.00131295075943631"/>
      <inertia ixx="5.41755504446752e-08" ixy="1.27650591704971e-09" ixz="-4.82976525914747e-09" iyy="5.88144881419792e-08" iyz="3.56234285325664e-10" izz="1.05520720481453e-07"/>
    </inertial>
    <visual>
      <geometry>
        <mesh filename="package://screw_26mmhinge_module_cover_40deg/meshes/dummy_link_remeshed.dae"/>
      </geometry>
      <material name="middle_module3___unnamed_material_3"/>
      <origin xyz="0.0 0.0 0.0" rpy="0.0 -0.0 0.0"/>
    </visual>
    <collision>
      <geometry>
        <mesh filename="package://screw_26mmhinge_module_cover_40deg/meshes/dummy_link_remeshed.stl"/>
      </geometry>
      <origin xyz="0.0 0.0 0.0" rpy="0.0 -0.0 0.0"/>
    </collision>
  </link>
  <link name="middle_module4_base_link">
    <inertial>
      <origin xyz="-4.45136749414631e-05 2.74911354251475e-05 0.01526296474957" rpy="0.0 -0.0 0.0"/>
      <mass value="0.0143355339373342"/>
      <inertia ixx="1.67198153889703e-06" ixy="-3.86118634343168e-09" ixz="2.09684473771432e-09" iyy="2.41636111915256e-06" iyz="2.62797611358753e-09" izz="2.60259577595367e-06"/>
    </inertial>
    <visual>
      <geometry>
        <mesh filename="package://fingertip/meshes/base_link_remeshed.dae"/>
      </geometry>
      <material name="middle_module4___unnamed_material_1"/>
      <origin xyz="0.0 0.0 0.0" rpy="0.0 -0.0 0.0"/>
    </visual>
    <collision>
      <geometry>
        <mesh filename="package://fingertip/meshes/base_link_remeshed.stl"/>
      </geometry>
      <origin xyz="0.0 0.0 0.0" rpy="0.0 -0.0 0.0"/>
    </collision>
  </link>
  <link name="index_module1_base_link">
    <inertial>
      <origin xyz="-0.000213433946328543 -0.000522257566248314 0.010512356078851" rpy="0.0 -0.0 0.0"/>
      <mass value="0.0119791718336502"/>
      <inertia ixx="1.31621870893497e-06" ixy="-5.13940617703683e-09" ixz="6.92655022774858e-09" iyy="1.42670892278346e-06" iyz="5.85355266632325e-09" izz="1.57468742862286e-06"/>
    </inertial>
    <visual>
      <geometry>
        <mesh filename="package://screw_cross_module_cover_invert_50mm/meshes/base_link_remeshed.dae"/>
      </geometry>
      <material name="index_module1___unnamed_material_1"/>
      <origin xyz="0.0 0.0 0.0" rpy="0.0 -0.0 0.0"/>
    </visual>
    <collision>
      <geometry>
        <mesh filename="package://screw_cross_module_cover_invert_50mm/meshes/base_link_remeshed.stl"/>
      </geometry>
      <origin xyz="0.0 0.0 0.0" rpy="0.0 -0.0 0.0"/>
    </collision>
  </link>
  <link name="index_module1_link1">
    <inertial>
      <origin xyz="2.40548098907604e-05 0.0170200166175038 0.00743211422338727" rpy="0.0 -0.0 0.0"/>
      <mass value="0.0528420021206123"/>
      <inertia ixx="8.46927525862569e-06" ixy="3.77104103813554e-08" ixz="-2.40264131836263e-09" iyy="9.18514204610879e-06" iyz="3.33117292501083e-07" izz="7.42897064027825e-06"/>
    </inertial>
    <visual>
      <geometry>
        <mesh filename="package://screw_cross_module_cover_invert_50mm/meshes/link1_remeshed.dae"/>
      </geometry>
      <material name="index_module1___unnamed_material_2"/>
      <origin xyz="0.0 0.0 0.0" rpy="0.0 -0.0 0.0"/>
    </visual>
    <collision>
      <geometry>
        <mesh filename="package://screw_cross_module_cover_invert_50mm/meshes/link1_remeshed.stl"/>
      </geometry>
      <origin xyz="0.0 0.0 0.0" rpy="0.0 -0.0 0.0"/>
    </collision>
  </link>
  <link name="index_module1_link2">
    <inertial>
      <origin xyz="-0.000799904651096249 0.000126545018078978 0.0439031855091127" rpy="0.0 -0.0 0.0"/>
      <mass value="0.0184890044461961"/>
      <inertia ixx="3.86018266499349e-06" ixy="-2.57346007074634e-09" ixz="-1.33830705751634e-08" iyy="3.71216828080987e-06" iyz="1.02631852497554e-09" izz="3.85438258007771e-06"/>
    </inertial>
    <visual>
      <geometry>
        <mesh filename="package://screw_cross_module_cover_invert_50mm/meshes/link2_remeshed.dae"/>
      </geometry>
      <material name="index_module1___unnamed_material_3"/>
      <origin xyz="0.0 0.0 0.0" rpy="0.0 -0.0 0.0"/>
    </visual>
    <collision>
      <geometry>
        <mesh filename="package://screw_cross_module_cover_invert_50mm/meshes/link2_remeshed.stl"/>
      </geometry>
      <origin xyz="0.0 0.0 0.0" rpy="0.0 -0.0 0.0"/>
    </collision>
  </link>
  <link name="index_module1_dummy_link">
    <inertial>
      <origin xyz="-0.00146131369472048 0.000201870283507455 -0.00283550060362608" rpy="0.0 -0.0 0.0"/>
      <mass value="0.00131295075943631"/>
      <inertia ixx="5.41755504446202e-08" ixy="1.27650591705179e-09" ixz="-4.82976525885559e-09" iyy="5.88144881419791e-08" iyz="3.56234285318554e-10" izz="1.05520720481508e-07"/>
    </inertial>
    <visual>
      <geometry>
        <mesh filename="package://screw_cross_module_cover_invert_50mm/meshes/dummy_link_remeshed.dae"/>
      </geometry>
      <material name="index_module1___unnamed_material_4"/>
      <origin xyz="0.0 0.0 0.0" rpy="0.0 -0.0 0.0"/>
    </visual>
    <collision>
      <geometry>
        <mesh filename="package://screw_cross_module_cover_invert_50mm/meshes/dummy_link_remeshed.stl"/>
      </geometry>
      <origin xyz="0.0 0.0 0.0" rpy="0.0 -0.0 0.0"/>
    </collision>
  </link>
  <link name="index_module2_base_link">
    <inertial>
      <origin xyz="-0.000397243037985137 -0.000299123988951571 0.0268900174967925" rpy="0.0 -0.0 0.0"/>
      <mass value="0.0392907478850212"/>
      <inertia ixx="6.49315163386437e-06" ixy="-1.58700153015025e-07" ixz="1.07943557378575e-07" iyy="7.59585884582494e-06" iyz="-1.02493309535865e-09" izz="5.32693747823652e-06"/>
    </inertial>
    <visual>
      <geometry>
        <mesh filename="package://screw_26mmhinge_module_cover_0deg/meshes/base_link_remeshed.dae"/>
      </geometry>
      <material name="index_module2___unnamed_material_1"/>
      <origin xyz="0.0 0.0 0.0" rpy="0.0 -0.0 0.0"/>
    </visual>
    <collision>
      <geometry>
        <mesh filename="package://screw_26mmhinge_module_cover_0deg/meshes/base_link_remeshed.stl"/>
      </geometry>
      <origin xyz="0.0 0.0 0.0" rpy="0.0 -0.0 0.0"/>
    </collision>
  </link>
  <link name="index_module2_link1">
    <inertial>
      <origin xyz="0.00050176181802974 0.000131881332311372 0.0261566388593281" rpy="0.0 -0.0 0.0"/>
      <mass value="0.015679495466009"/>
      <inertia ixx="2.36251577154097e-06" ixy="-2.28902268828607e-09" ixz="1.04881203366641e-08" iyy="2.26742863290264e-06" iyz="5.68818291644029e-09" izz="3.78920030884968e-06"/>
    </inertial>
    <visual>
      <geometry>
        <mesh filename="package://screw_26mmhinge_module_cover_0deg/meshes/link1_remeshed.dae"/>
      </geometry>
      <material name="index_module2___unnamed_material_2"/>
      <origin xyz="0.0 0.0 0.0" rpy="0.0 -0.0 0.0"/>
    </visual>
    <collision>
      <geometry>
        <mesh filename="package://screw_26mmhinge_module_cover_0deg/meshes/link1_remeshed.stl"/>
      </geometry>
      <origin xyz="0.0 0.0 0.0" rpy="0.0 -0.0 0.0"/>
    </collision>
  </link>
  <link name="index_module2_dummy_link">
    <inertial>
      <origin xyz="-0.0014613136949066 0.000201870283592702 -0.00283550060370832" rpy="0.0 -0.0 0.0"/>
      <mass value="0.00131295075943631"/>
      <inertia ixx="5.41755504446753e-08" ixy="1.27650591704971e-09" ixz="-4.82976525914748e-09" iyy="5.88144881419792e-08" iyz="3.56234285325651e-10" izz="1.05520720481453e-07"/>
    </inertial>
    <visual>
      <geometry>
        <mesh filename="package://screw_26mmhinge_module_cover_0deg/meshes/dummy_link_remeshed.dae"/>
      </geometry>
      <material name="index_module2___unnamed_material_3"/>
      <origin xyz="0.0 0.0 0.0" rpy="0.0 -0.0 0.0"/>
    </visual>
    <collision>
      <geometry>
        <mesh filename="package://screw_26mmhinge_module_cover_0deg/meshes/dummy_link_remeshed.stl"/>
      </geometry>
      <origin xyz="0.0 0.0 0.0" rpy="0.0 -0.0 0.0"/>
    </collision>
  </link>
  <link name="index_module3_base_link">
    <inertial>
      <origin xyz="-0.000401252669389229 -0.000241503883848603 0.0265833789284656" rpy="0.0 -0.0 0.0"/>
      <mass value="0.0388983022333583"/>
      <inertia ixx="6.28968153745185e-06" ixy="-1.58891717516252e-07" ixz="1.06958872572826e-07" iyy="7.30853508101172e-06" iyz="2.75384527151901e-08" izz="5.23270325750328e-06"/>
    </inertial>
    <visual>
      <geometry>
        <mesh filename="package://screw_26mmhinge_module_cover_40deg/meshes/base_link_remeshed.dae"/>
      </geometry>
      <material name="index_module3___unnamed_material_1"/>
      <origin xyz="0.0 0.0 0.0" rpy="0.0 -0.0 0.0"/>
    </visual>
    <collision>
      <geometry>
        <mesh filename="package://screw_26mmhinge_module_cover_40deg/meshes/base_link_remeshed.stl"/>
      </geometry>
      <origin xyz="0.0 0.0 0.0" rpy="0.0 -0.0 0.0"/>
    </collision>
  </link>
  <link name="index_module3_link1">
    <inertial>
      <origin xyz="0.00050176181802974 0.000131881332311375 0.0261566388593281" rpy="0.0 -0.0 0.0"/>
      <mass value="0.0156794954660089"/>
      <inertia ixx="2.36251577154097e-06" ixy="-2.28902268828719e-09" ixz="1.04881203366649e-08" iyy="2.26742863290264e-06" iyz="5.68818291644002e-09" izz="3.78920030884968e-06"/>
    </inertial>
    <visual>
      <geometry>
        <mesh filename="package://screw_26mmhinge_module_cover_40deg/meshes/link1_remeshed.dae"/>
      </geometry>
      <material name="index_module3___unnamed_material_2"/>
      <origin xyz="0.0 0.0 0.0" rpy="0.0 -0.0 0.0"/>
    </visual>
    <collision>
      <geometry>
        <mesh filename="package://screw_26mmhinge_module_cover_40deg/meshes/link1_remeshed.stl"/>
      </geometry>
      <origin xyz="0.0 0.0 0.0" rpy="0.0 -0.0 0.0"/>
    </collision>
  </link>
  <link name="index_module3_dummy_link">
    <inertial>
      <origin xyz="-0.0014613136949066 0.000201870283592712 -0.00283550060370834" rpy="0.0 -0.0 0.0"/>
      <mass value="0.00131295075943631"/>
      <inertia ixx="5.41755504446752e-08" ixy="1.27650591704971e-09" ixz="-4.82976525914747e-09" iyy="5.88144881419792e-08" iyz="3.56234285325664e-10" izz="1.05520720481453e-07"/>
    </inertial>
    <visual>
      <geometry>
        <mesh filename="package://screw_26mmhinge_module_cover_40deg/meshes/dummy_link_remeshed.dae"/>
      </geometry>
      <material name="index_module3___unnamed_material_3"/>
      <origin xyz="0.0 0.0 0.0" rpy="0.0 -0.0 0.0"/>
    </visual>
    <collision>
      <geometry>
        <mesh filename="package://screw_26mmhinge_module_cover_40deg/meshes/dummy_link_remeshed.stl"/>
      </geometry>
      <origin xyz="0.0 0.0 0.0" rpy="0.0 -0.0 0.0"/>
    </collision>
  </link>
  <link name="index_module4_base_link">
    <inertial>
      <origin xyz="-4.45136749414631e-05 2.74911354251475e-05 0.01526296474957" rpy="0.0 -0.0 0.0"/>
      <mass value="0.0143355339373342"/>
      <inertia ixx="1.67198153889703e-06" ixy="-3.86118634343168e-09" ixz="2.09684473771432e-09" iyy="2.41636111915256e-06" iyz="2.62797611358753e-09" izz="2.60259577595367e-06"/>
    </inertial>
    <visual>
      <geometry>
        <mesh filename="package://fingertip/meshes/base_link_remeshed.dae"/>
      </geometry>
      <material name="index_module4___unnamed_material_1"/>
      <origin xyz="0.0 0.0 0.0" rpy="0.0 -0.0 0.0"/>
    </visual>
    <collision>
      <geometry>
        <mesh filename="package://fingertip/meshes/base_link_remeshed.stl"/>
      </geometry>
      <origin xyz="0.0 0.0 0.0" rpy="0.0 -0.0 0.0"/>
    </collision>
  </link>
  <link name="thumb_module1_base_link">
    <inertial>
      <origin xyz="-0.000234526751972131 -0.00028602879195132 0.00492715673473502" rpy="0.0 -0.0 0.0"/>
      <mass value="0.00883872367866773"/>
      <inertia ixx="8.44969262482198e-07" ixy="-2.38438590170593e-09" ixz="4.75238560676722e-09" iyy="8.63389925030388e-07" iyz="5.42634773688696e-09" izz="1.43408773061232e-06"/>
    </inertial>
    <visual>
      <geometry>
        <mesh filename="package://screw_cm_module/meshes/base_link_remeshed.dae"/>
      </geometry>
      <material name="thumb_module1___unnamed_material_1"/>
      <origin xyz="0.0 0.0 0.0" rpy="0.0 -0.0 0.0"/>
    </visual>
    <collision>
      <geometry>
        <mesh filename="package://screw_cm_module/meshes/base_link_remeshed.stl"/>
      </geometry>
      <origin xyz="0.0 0.0 0.0" rpy="0.0 -0.0 0.0"/>
    </collision>
  </link>
  <link name="thumb_module1_link1">
    <inertial>
      <origin xyz="0.0122754950678387 0.00451490759273611 0.0192976588266299" rpy="0.0 -0.0 0.0"/>
      <mass value="0.0525185279217828"/>
      <inertia ixx="1.20898118628892e-05" ixy="6.79207945311754e-07" ixz="7.33692665286359e-07" iyy="1.05211895809663e-05" iyz="2.1948178305605e-07" izz="1.33437679174632e-05"/>
    </inertial>
    <visual>
      <geometry>
        <mesh filename="package://screw_cm_module/meshes/link1_remeshed.dae"/>
      </geometry>
      <material name="thumb_module1___unnamed_material_2"/>
      <origin xyz="0.0 0.0 0.0" rpy="0.0 -0.0 0.0"/>
    </visual>
    <collision>
      <geometry>
        <mesh filename="package://screw_cm_module/meshes/link1_remeshed.stl"/>
      </geometry>
      <origin xyz="0.0 0.0 0.0" rpy="0.0 -0.0 0.0"/>
    </collision>
  </link>
  <link name="thumb_module1_dummy_link">
    <inertial>
      <origin xyz="-0.0014613152281131 0.000201870812535348 -0.00283550672359347" rpy="0.0 -0.0 0.0"/>
      <mass value="0.00131294858172581"/>
      <inertia ixx="5.41755485203049e-08" ixy="1.27650587238183e-09" ixz="-4.82976540098191e-09" iyy="5.88144862744986e-08" iyz="3.56234284775796e-10" izz="1.05520720424416e-07"/>
    </inertial>
    <visual>
      <geometry>
        <mesh filename="package://screw_cm_module/meshes/dummy_link_remeshed.dae"/>
      </geometry>
      <material name="thumb_module1___unnamed_material_3"/>
      <origin xyz="0.0 0.0 0.0" rpy="0.0 -0.0 0.0"/>
    </visual>
    <collision>
      <geometry>
        <mesh filename="package://screw_cm_module/meshes/dummy_link_remeshed.stl"/>
      </geometry>
      <origin xyz="0.0 0.0 0.0" rpy="0.0 -0.0 0.0"/>
    </collision>
  </link>
  <link name="thumb_module2_base_link">
    <inertial>
      <origin xyz="-0.000401252669389229 -0.000241503883848603 0.0265833789284656" rpy="0.0 -0.0 0.0"/>
      <mass value="0.0388983022333583"/>
      <inertia ixx="6.28968153745185e-06" ixy="-1.58891717516252e-07" ixz="1.06958872572826e-07" iyy="7.30853508101172e-06" iyz="2.75384527151901e-08" izz="5.23270325750328e-06"/>
    </inertial>
    <visual>
      <geometry>
        <mesh filename="package://screw_26mmhinge_module_cover_40deg/meshes/base_link_remeshed.dae"/>
      </geometry>
      <material name="thumb_module2___unnamed_material_1"/>
      <origin xyz="0.0 0.0 0.0" rpy="0.0 -0.0 0.0"/>
    </visual>
    <collision>
      <geometry>
        <mesh filename="package://screw_26mmhinge_module_cover_40deg/meshes/base_link_remeshed.stl"/>
      </geometry>
      <origin xyz="0.0 0.0 0.0" rpy="0.0 -0.0 0.0"/>
    </collision>
  </link>
  <link name="thumb_module2_link1">
    <inertial>
      <origin xyz="0.00050176181802974 0.000131881332311375 0.0261566388593281" rpy="0.0 -0.0 0.0"/>
      <mass value="0.0156794954660089"/>
      <inertia ixx="2.36251577154097e-06" ixy="-2.28902268828719e-09" ixz="1.04881203366649e-08" iyy="2.26742863290264e-06" iyz="5.68818291644002e-09" izz="3.78920030884968e-06"/>
    </inertial>
    <visual>
      <geometry>
        <mesh filename="package://screw_26mmhinge_module_cover_40deg/meshes/link1_remeshed.dae"/>
      </geometry>
      <material name="thumb_module2___unnamed_material_2"/>
      <origin xyz="0.0 0.0 0.0" rpy="0.0 -0.0 0.0"/>
    </visual>
    <collision>
      <geometry>
        <mesh filename="package://screw_26mmhinge_module_cover_40deg/meshes/link1_remeshed.stl"/>
      </geometry>
      <origin xyz="0.0 0.0 0.0" rpy="0.0 -0.0 0.0"/>
    </collision>
  </link>
  <link name="thumb_module2_dummy_link">
    <inertial>
      <origin xyz="-0.0014613136949066 0.000201870283592712 -0.00283550060370834" rpy="0.0 -0.0 0.0"/>
      <mass value="0.00131295075943631"/>
      <inertia ixx="5.41755504446752e-08" ixy="1.27650591704971e-09" ixz="-4.82976525914747e-09" iyy="5.88144881419792e-08" iyz="3.56234285325664e-10" izz="1.05520720481453e-07"/>
    </inertial>
    <visual>
      <geometry>
        <mesh filename="package://screw_26mmhinge_module_cover_40deg/meshes/dummy_link_remeshed.dae"/>
      </geometry>
      <material name="thumb_module2___unnamed_material_3"/>
      <origin xyz="0.0 0.0 0.0" rpy="0.0 -0.0 0.0"/>
    </visual>
    <collision>
      <geometry>
        <mesh filename="package://screw_26mmhinge_module_cover_40deg/meshes/dummy_link_remeshed.stl"/>
      </geometry>
      <origin xyz="0.0 0.0 0.0" rpy="0.0 -0.0 0.0"/>
    </collision>
  </link>
  <link name="thumb_module3_base_link">
    <inertial>
      <origin xyz="-0.000401252669389229 -0.000241503883848603 0.0265833789284656" rpy="0.0 -0.0 0.0"/>
      <mass value="0.0388983022333583"/>
      <inertia ixx="6.28968153745185e-06" ixy="-1.58891717516252e-07" ixz="1.06958872572826e-07" iyy="7.30853508101172e-06" iyz="2.75384527151901e-08" izz="5.23270325750328e-06"/>
    </inertial>
    <visual>
      <geometry>
        <mesh filename="package://screw_26mmhinge_module_cover_40deg/meshes/base_link_remeshed.dae"/>
      </geometry>
      <material name="thumb_module3___unnamed_material_1"/>
      <origin xyz="0.0 0.0 0.0" rpy="0.0 -0.0 0.0"/>
    </visual>
    <collision>
      <geometry>
        <mesh filename="package://screw_26mmhinge_module_cover_40deg/meshes/base_link_remeshed.stl"/>
      </geometry>
      <origin xyz="0.0 0.0 0.0" rpy="0.0 -0.0 0.0"/>
    </collision>
  </link>
  <link name="thumb_module3_link1">
    <inertial>
      <origin xyz="0.00050176181802974 0.000131881332311375 0.0261566388593281" rpy="0.0 -0.0 0.0"/>
      <mass value="0.0156794954660089"/>
      <inertia ixx="2.36251577154097e-06" ixy="-2.28902268828719e-09" ixz="1.04881203366649e-08" iyy="2.26742863290264e-06" iyz="5.68818291644002e-09" izz="3.78920030884968e-06"/>
    </inertial>
    <visual>
      <geometry>
        <mesh filename="package://screw_26mmhinge_module_cover_40deg/meshes/link1_remeshed.dae"/>
      </geometry>
      <material name="thumb_module3___unnamed_material_2"/>
      <origin xyz="0.0 0.0 0.0" rpy="0.0 -0.0 0.0"/>
    </visual>
    <collision>
      <geometry>
        <mesh filename="package://screw_26mmhinge_module_cover_40deg/meshes/link1_remeshed.stl"/>
      </geometry>
      <origin xyz="0.0 0.0 0.0" rpy="0.0 -0.0 0.0"/>
    </collision>
  </link>
  <link name="thumb_module3_dummy_link">
    <inertial>
      <origin xyz="-0.0014613136949066 0.000201870283592712 -0.00283550060370834" rpy="0.0 -0.0 0.0"/>
      <mass value="0.00131295075943631"/>
      <inertia ixx="5.41755504446752e-08" ixy="1.27650591704971e-09" ixz="-4.82976525914747e-09" iyy="5.88144881419792e-08" iyz="3.56234285325664e-10" izz="1.05520720481453e-07"/>
    </inertial>
    <visual>
      <geometry>
        <mesh filename="package://screw_26mmhinge_module_cover_40deg/meshes/dummy_link_remeshed.dae"/>
      </geometry>
      <material name="thumb_module3___unnamed_material_3"/>
      <origin xyz="0.0 0.0 0.0" rpy="0.0 -0.0 0.0"/>
    </visual>
    <collision>
      <geometry>
        <mesh filename="package://screw_26mmhinge_module_cover_40deg/meshes/dummy_link_remeshed.stl"/>
      </geometry>
      <origin xyz="0.0 0.0 0.0" rpy="0.0 -0.0 0.0"/>
    </collision>
  </link>
  <link name="thumb_module4_base_link">
    <inertial>
      <origin xyz="-4.45136749414631e-05 2.74911354251475e-05 0.01526296474957" rpy="0.0 -0.0 0.0"/>
      <mass value="0.0143355339373342"/>
      <inertia ixx="1.67198153889703e-06" ixy="-3.86118634343168e-09" ixz="2.09684473771432e-09" iyy="2.41636111915256e-06" iyz="2.62797611358753e-09" izz="2.60259577595367e-06"/>
    </inertial>
    <visual>
      <geometry>
        <mesh filename="package://fingertip/meshes/base_link_remeshed.dae"/>
      </geometry>
      <material name="thumb_module4___unnamed_material_1"/>
      <origin xyz="0.0 0.0 0.0" rpy="0.0 -0.0 0.0"/>
    </visual>
    <collision>
      <geometry>
        <mesh filename="package://fingertip/meshes/base_link_remeshed.stl"/>
      </geometry>
      <origin xyz="0.0 0.0 0.0" rpy="0.0 -0.0 0.0"/>
    </collision>
  </link>
  <joint name="dummy_joint1" type="fixed">
    <limit effort="0.0" velocity="0.0"/>
    <parent link="base_link"/>
    <child link="dummy_link1"/>
    <axis xyz="0. 0. 0."/>
    <origin xyz="-0.134 0.0 0.104" rpy="0.0 -0.0 0.0"/>
  </joint>
  <joint name="dummy_joint2" type="fixed">
    <limit effort="0.0" velocity="0.0"/>
    <parent link="base_link"/>
    <child link="dummy_link2"/>
    <axis xyz="0. 0. 0."/>
    <origin xyz="-0.0790000000000001 0.0 0.148" rpy="0.0 -0.0 0.0"/>
  </joint>
  <joint name="dummy_joint3" type="fixed">
    <limit effort="0.0" velocity="0.0"/>
    <parent link="base_link"/>
    <child link="dummy_link3"/>
    <axis xyz="0. 0. 0."/>
    <origin xyz="-0.024 0.0 0.169" rpy="0.0 -0.0 0.0"/>
  </joint>
  <joint name="dummy_joint4" type="fixed">
    <limit effort="0.0" velocity="0.0"/>
    <parent link="base_link"/>
    <child link="dummy_link4"/>
    <axis xyz="0. 0. 0."/>
    <origin xyz="0.0309999999999999 0.0 0.138" rpy="0.0 -0.0 0.0"/>
  </joint>
  <joint name="dummy_joint5" type="fixed">
    <limit effort="0.0" velocity="0.0"/>
    <parent link="base_link"/>
    <child link="dummy_link5"/>
    <axis xyz="0. 0. 0."/>
    <origin xyz="0.018463196704848 0.0 0.0524638930461059" rpy="3.14159265358979 0.6356359574700542 3.14159265358978"/>
  </joint>
  <joint name="dummy_link1_to_little_module1_base_link_joint" type="fixed">
    <limit effort="0.0" velocity="0.0"/>
    <parent link="dummy_link1"/>
    <child link="little_module1_base_link"/>
    <axis xyz="1. 0. 0."/>
    <origin xyz="0.0 0.0 0.0" rpy="0.0 -0.0 -3.1415926535895866"/>
  </joint>
  <joint name="little_module1_joint1" type="revolute">
    <limit effort="0.0" velocity="0.0" lower="-1.5" upper="1.5"/>
    <parent link="little_module1_base_link"/>
    <child link="little_module1_link1"/>
    <axis xyz=" 0. -1.  0."/>
    <origin xyz="0.0 0.0 0.0349999999999999" rpy="0.0 -0.0 0.0"/>
  </joint>
  <joint name="little_module1_joint2" type="revolute">
    <limit effort="0.0" velocity="0.0" lower="-0.698" upper="1.57"/>
    <parent link="little_module1_link1"/>
    <child link="little_module1_link2"/>
    <axis xyz="1. 0. 0."/>
    <origin xyz="0.0 0.0 0.0" rpy="0.0 -0.0 0.0"/>
  </joint>
  <joint name="little_module1_dummy_joint" type="fixed">
    <limit effort="0.0" velocity="0.0"/>
    <parent link="little_module1_link2"/>
    <child link="little_module1_dummy_link"/>
    <axis xyz="0. 0. 0."/>
    <origin xyz="0.0 0.0 0.0569999998698719" rpy="0.0 -0.0 -1.5707963267949006"/>
  </joint>
  <joint name="little_module1_dummy_link_to_little_module2_base_link_joint" type="fixed">
    <limit effort="0.0" velocity="0.0"/>
    <parent link="little_module1_dummy_link"/>
    <child link="little_module2_base_link"/>
    <axis xyz="1. 0. 0."/>
    <origin xyz="0.0 0.0 0.0" rpy="-0.0 -0.0 -1.5707963267948963"/>
  </joint>
  <joint name="little_module2_joint1" type="revolute">
    <limit effort="0.0" velocity="0.0" lower="0.0" upper="1.78"/>
    <parent link="little_module2_base_link"/>
    <child link="little_module2_link1"/>
    <axis xyz="-1.  0.  0."/>
    <origin xyz="0.0 0.0 0.04" rpy="0.0 -0.0 0.0"/>
  </joint>
  <joint name="little_module2_dummy_joint" type="fixed">
    <limit effort="0.0" velocity="0.0"/>
    <parent link="little_module2_link1"/>
    <child link="little_module2_dummy_link"/>
    <axis xyz="0. 0. 0."/>
    <origin xyz="0.0 0.0 0.033" rpy="0.0 -0.0 -1.57079632679492"/>
  </joint>
  <joint name="little_module2_dummy_link_to_little_module3_base_link_joint" type="fixed">
    <limit effort="0.0" velocity="0.0"/>
    <parent link="little_module2_dummy_link"/>
    <child link="little_module3_base_link"/>
    <axis xyz="1. 0. 0."/>
    <origin xyz="0.0 0.0 0.0" rpy="0.0 -0.0 1.5707963267948963"/>
  </joint>
  <joint name="little_module3_joint1" type="revolute">
    <limit effort="0.0" velocity="0.0" lower="-0.698" upper="1.78"/>
    <parent link="little_module3_base_link"/>
    <child link="little_module3_link1"/>
    <axis xyz="-1.  0.  0."/>
    <origin xyz="0.0 0.0 0.04" rpy="0.0 -0.0 0.0"/>
  </joint>
  <joint name="little_module3_dummy_joint" type="fixed">
    <limit effort="0.0" velocity="0.0"/>
    <parent link="little_module3_link1"/>
    <child link="little_module3_dummy_link"/>
    <axis xyz="0. 0. 0."/>
    <origin xyz="0.0 0.0 0.033" rpy="0.0 -0.0 -1.57079632679492"/>
  </joint>
  <joint name="little_module3_dummy_link_to_little_module4_base_link_joint" type="fixed">
    <limit effort="0.0" velocity="0.0"/>
    <parent link="little_module3_dummy_link"/>
    <child link="little_module4_base_link"/>
    <axis xyz="1. 0. 0."/>
    <origin xyz="0.0 0.0 0.0" rpy="0.0 -0.0 1.5707963267948963"/>
  </joint>
  <joint name="dummy_link2_to_ring_module1_base_link_joint" type="fixed">
    <limit effort="0.0" velocity="0.0"/>
    <parent link="dummy_link2"/>
    <child link="ring_module1_base_link"/>
    <axis xyz="1. 0. 0."/>
    <origin xyz="0.0 0.0 0.0" rpy="0.0 -0.0 -3.1415926535895866"/>
  </joint>
  <joint name="ring_module1_joint1" type="revolute">
    <limit effort="0.0" velocity="0.0" lower="-1.5" upper="1.5"/>
    <parent link="ring_module1_base_link"/>
    <child link="ring_module1_link1"/>
    <axis xyz=" 0. -1.  0."/>
    <origin xyz="0.0 0.0 0.0349999999999999" rpy="0.0 -0.0 0.0"/>
  </joint>
  <joint name="ring_module1_joint2" type="revolute">
    <limit effort="0.0" velocity="0.0" lower="-0.698" upper="1.57"/>
    <parent link="ring_module1_link1"/>
    <child link="ring_module1_link2"/>
    <axis xyz="1. 0. 0."/>
    <origin xyz="0.0 0.0 0.0" rpy="0.0 -0.0 0.0"/>
  </joint>
  <joint name="ring_module1_dummy_joint" type="fixed">
    <limit effort="0.0" velocity="0.0"/>
    <parent link="ring_module1_link2"/>
    <child link="ring_module1_dummy_link"/>
    <axis xyz="0. 0. 0."/>
    <origin xyz="0.0 0.0 0.0569999998698719" rpy="0.0 -0.0 -1.5707963267949006"/>
  </joint>
  <joint name="ring_module1_dummy_link_to_ring_module2_base_link_joint" type="fixed">
    <limit effort="0.0" velocity="0.0"/>
    <parent link="ring_module1_dummy_link"/>
    <child link="ring_module2_base_link"/>
    <axis xyz="1. 0. 0."/>
    <origin xyz="0.0 0.0 0.0" rpy="-0.0 -0.0 -1.5707963267948963"/>
  </joint>
  <joint name="ring_module2_joint1" type="revolute">
    <limit effort="0.0" velocity="0.0" lower="0.0" upper="1.78"/>
    <parent link="ring_module2_base_link"/>
    <child link="ring_module2_link1"/>
    <axis xyz="-1.  0.  0."/>
    <origin xyz="0.0 0.0 0.04" rpy="0.0 -0.0 0.0"/>
  </joint>
  <joint name="ring_module2_dummy_joint" type="fixed">
    <limit effort="0.0" velocity="0.0"/>
    <parent link="ring_module2_link1"/>
    <child link="ring_module2_dummy_link"/>
    <axis xyz="0. 0. 0."/>
    <origin xyz="0.0 0.0 0.033" rpy="0.0 -0.0 -1.57079632679492"/>
  </joint>
  <joint name="ring_module2_dummy_link_to_ring_module3_base_link_joint" type="fixed">
    <limit effort="0.0" velocity="0.0"/>
    <parent link="ring_module2_dummy_link"/>
    <child link="ring_module3_base_link"/>
    <axis xyz="1. 0. 0."/>
    <origin xyz="0.0 0.0 0.0" rpy="0.0 -0.0 1.5707963267948963"/>
  </joint>
  <joint name="ring_module3_joint1" type="revolute">
    <limit effort="0.0" velocity="0.0" lower="-0.698" upper="1.78"/>
    <parent link="ring_module3_base_link"/>
    <child link="ring_module3_link1"/>
    <axis xyz="-1.  0.  0."/>
    <origin xyz="0.0 0.0 0.04" rpy="0.0 -0.0 0.0"/>
  </joint>
  <joint name="ring_module3_dummy_joint" type="fixed">
    <limit effort="0.0" velocity="0.0"/>
    <parent link="ring_module3_link1"/>
    <child link="ring_module3_dummy_link"/>
    <axis xyz="0. 0. 0."/>
    <origin xyz="0.0 0.0 0.033" rpy="0.0 -0.0 -1.57079632679492"/>
  </joint>
  <joint name="ring_module3_dummy_link_to_ring_module4_base_link_joint" type="fixed">
    <limit effort="0.0" velocity="0.0"/>
    <parent link="ring_module3_dummy_link"/>
    <child link="ring_module4_base_link"/>
    <axis xyz="1. 0. 0."/>
    <origin xyz="0.0 0.0 0.0" rpy="0.0 -0.0 1.5707963267948963"/>
  </joint>
  <joint name="dummy_link3_to_middle_module1_base_link_joint" type="fixed">
    <limit effort="0.0" velocity="0.0"/>
    <parent link="dummy_link3"/>
    <child link="middle_module1_base_link"/>
    <axis xyz="1. 0. 0."/>
    <origin xyz="0.0 0.0 0.0" rpy="0.0 -0.0 -3.1415926535895866"/>
  </joint>
  <joint name="middle_module1_joint1" type="revolute">
    <limit effort="0.0" velocity="0.0" lower="-1.5" upper="1.5"/>
    <parent link="middle_module1_base_link"/>
    <child link="middle_module1_link1"/>
    <axis xyz=" 0. -1.  0."/>
    <origin xyz="0.0 0.0 0.0349999999999999" rpy="0.0 -0.0 0.0"/>
  </joint>
  <joint name="middle_module1_joint2" type="revolute">
    <limit effort="0.0" velocity="0.0" lower="-0.698" upper="1.57"/>
    <parent link="middle_module1_link1"/>
    <child link="middle_module1_link2"/>
    <axis xyz="1. 0. 0."/>
    <origin xyz="0.0 0.0 0.0" rpy="0.0 -0.0 0.0"/>
  </joint>
  <joint name="middle_module1_dummy_joint" type="fixed">
    <limit effort="0.0" velocity="0.0"/>
    <parent link="middle_module1_link2"/>
    <child link="middle_module1_dummy_link"/>
    <axis xyz="0. 0. 0."/>
    <origin xyz="0.0 0.0 0.0569999998698719" rpy="0.0 -0.0 -1.5707963267949006"/>
  </joint>
  <joint name="middle_module1_dummy_link_to_middle_module2_base_link_joint" type="fixed">
    <limit effort="0.0" velocity="0.0"/>
    <parent link="middle_module1_dummy_link"/>
    <child link="middle_module2_base_link"/>
    <axis xyz="1. 0. 0."/>
    <origin xyz="0.0 0.0 0.0" rpy="-0.0 -0.0 -1.5707963267948963"/>
  </joint>
  <joint name="middle_module2_joint1" type="revolute">
    <limit effort="0.0" velocity="0.0" lower="0.0" upper="1.78"/>
    <parent link="middle_module2_base_link"/>
    <child link="middle_module2_link1"/>
    <axis xyz="-1.  0.  0."/>
    <origin xyz="0.0 0.0 0.04" rpy="0.0 -0.0 0.0"/>
  </joint>
  <joint name="middle_module2_dummy_joint" type="fixed">
    <limit effort="0.0" velocity="0.0"/>
    <parent link="middle_module2_link1"/>
    <child link="middle_module2_dummy_link"/>
    <axis xyz="0. 0. 0."/>
    <origin xyz="0.0 0.0 0.033" rpy="0.0 -0.0 -1.57079632679492"/>
  </joint>
  <joint name="middle_module2_dummy_link_to_middle_module3_base_link_joint" type="fixed">
    <limit effort="0.0" velocity="0.0"/>
    <parent link="middle_module2_dummy_link"/>
    <child link="middle_module3_base_link"/>
    <axis xyz="1. 0. 0."/>
    <origin xyz="0.0 0.0 0.0" rpy="0.0 -0.0 1.5707963267948963"/>
  </joint>
  <joint name="middle_module3_joint1" type="revolute">
    <limit effort="0.0" velocity="0.0" lower="-0.698" upper="1.78"/>
    <parent link="middle_module3_base_link"/>
    <child link="middle_module3_link1"/>
    <axis xyz="-1.  0.  0."/>
    <origin xyz="0.0 0.0 0.04" rpy="0.0 -0.0 0.0"/>
  </joint>
  <joint name="middle_module3_dummy_joint" type="fixed">
    <limit effort="0.0" velocity="0.0"/>
    <parent link="middle_module3_link1"/>
    <child link="middle_module3_dummy_link"/>
    <axis xyz="0. 0. 0."/>
    <origin xyz="0.0 0.0 0.033" rpy="0.0 -0.0 -1.57079632679492"/>
  </joint>
  <joint name="middle_module3_dummy_link_to_middle_module4_base_link_joint" type="fixed">
    <limit effort="0.0" velocity="0.0"/>
    <parent link="middle_module3_dummy_link"/>
    <child link="middle_module4_base_link"/>
    <axis xyz="1. 0. 0."/>
    <origin xyz="0.0 0.0 0.0" rpy="0.0 -0.0 1.5707963267948963"/>
  </joint>
  <joint name="dummy_link4_to_index_module1_base_link_joint" type="fixed">
    <limit effort="0.0" velocity="0.0"/>
    <parent link="dummy_link4"/>
    <child link="index_module1_base_link"/>
    <axis xyz="1. 0. 0."/>
    <origin xyz="0.0 0.0 0.0" rpy="0.0 -0.0 -3.1415926535895866"/>
  </joint>
  <joint name="index_module1_joint1" type="revolute">
    <limit effort="0.0" velocity="0.0" lower="-1.5" upper="1.5"/>
    <parent link="index_module1_base_link"/>
    <child link="index_module1_link1"/>
    <axis xyz=" 0. -1.  0."/>
    <origin xyz="0.0 0.0 0.0349999999999999" rpy="0.0 -0.0 0.0"/>
  </joint>
  <joint name="index_module1_joint2" type="revolute">
    <limit effort="0.0" velocity="0.0" lower="-0.698" upper="1.57"/>
    <parent link="index_module1_link1"/>
    <child link="index_module1_link2"/>
    <axis xyz="1. 0. 0."/>
    <origin xyz="0.0 0.0 0.0" rpy="0.0 -0.0 0.0"/>
  </joint>
  <joint name="index_module1_dummy_joint" type="fixed">
    <limit effort="0.0" velocity="0.0"/>
    <parent link="index_module1_link2"/>
    <child link="index_module1_dummy_link"/>
    <axis xyz="0. 0. 0."/>
    <origin xyz="0.0 0.0 0.0569999998698719" rpy="0.0 -0.0 -1.5707963267949006"/>
  </joint>
  <joint name="index_module1_dummy_link_to_index_module2_base_link_joint" type="fixed">
    <limit effort="0.0" velocity="0.0"/>
    <parent link="index_module1_dummy_link"/>
    <child link="index_module2_base_link"/>
    <axis xyz="1. 0. 0."/>
    <origin xyz="0.0 0.0 0.0" rpy="-0.0 -0.0 -1.5707963267948963"/>
  </joint>
  <joint name="index_module2_joint1" type="revolute">
    <limit effort="0.0" velocity="0.0" lower="0.0" upper="1.78"/>
    <parent link="index_module2_base_link"/>
    <child link="index_module2_link1"/>
    <axis xyz="-1.  0.  0."/>
    <origin xyz="0.0 0.0 0.04" rpy="0.0 -0.0 0.0"/>
  </joint>
  <joint name="index_module2_dummy_joint" type="fixed">
    <limit effort="0.0" velocity="0.0"/>
    <parent link="index_module2_link1"/>
    <child link="index_module2_dummy_link"/>
    <axis xyz="0. 0. 0."/>
    <origin xyz="0.0 0.0 0.033" rpy="0.0 -0.0 -1.57079632679492"/>
  </joint>
  <joint name="index_module2_dummy_link_to_index_module3_base_link_joint" type="fixed">
    <limit effort="0.0" velocity="0.0"/>
    <parent link="index_module2_dummy_link"/>
    <child link="index_module3_base_link"/>
    <axis xyz="1. 0. 0."/>
    <origin xyz="0.0 0.0 0.0" rpy="0.0 -0.0 1.5707963267948963"/>
  </joint>
  <joint name="index_module3_joint1" type="revolute">
    <limit effort="0.0" velocity="0.0" lower="-0.698" upper="1.78"/>
    <parent link="index_module3_base_link"/>
    <child link="index_module3_link1"/>
    <axis xyz="-1.  0.  0."/>
    <origin xyz="0.0 0.0 0.04" rpy="0.0 -0.0 0.0"/>
  </joint>
  <joint name="index_module3_dummy_joint" type="fixed">
    <limit effort="0.0" velocity="0.0"/>
    <parent link="index_module3_link1"/>
    <child link="index_module3_dummy_link"/>
    <axis xyz="0. 0. 0."/>
    <origin xyz="0.0 0.0 0.033" rpy="0.0 -0.0 -1.57079632679492"/>
  </joint>
  <joint name="index_module3_dummy_link_to_index_module4_base_link_joint" type="fixed">
    <limit effort="0.0" velocity="0.0"/>
    <parent link="index_module3_dummy_link"/>
    <child link="index_module4_base_link"/>
    <axis xyz="1. 0. 0."/>
    <origin xyz="0.0 0.0 0.0" rpy="0.0 -0.0 1.5707963267948963"/>
  </joint>
  <joint name="dummy_link5_to_thumb_module1_base_link_joint" type="fixed">
    <limit effort="0.0" velocity="0.0"/>
    <parent link="dummy_link5"/>
    <child link="thumb_module1_base_link"/>
    <axis xyz="1. 0. 0."/>
    <origin xyz="0.0 0.0 0.0" rpy="0.0 -0.0 0.0"/>
  </joint>
  <joint name="thumb_module1_joint1" type="revolute">
    <limit effort="0.0" velocity="0.0" lower="-2.356" upper="2.356"/>
    <parent link="thumb_module1_base_link"/>
    <child link="thumb_module1_link1"/>
    <axis xyz=" 0.  0. -1."/>
    <origin xyz="0.0 0.0 0.012" rpy="0.0 -0.0 3.1415853071795867"/>
  </joint>
  <joint name="thumb_module1_dummy_joint" type="fixed">
    <limit effort="0.0" velocity="0.0"/>
    <parent link="thumb_module1_link1"/>
    <child link="thumb_module1_dummy_link"/>
    <axis xyz="0. 0. 0."/>
    <origin xyz="0.0436109777441064 0.0 0.0270612891532417" rpy="-1.2930552091209002 -0.0509380987630674 -1.5853120014244804"/>
  </joint>
  <joint name="thumb_module1_dummy_link_to_thumb_module2_base_link_joint" type="fixed">
    <limit effort="0.0" velocity="0.0"/>
    <parent link="thumb_module1_dummy_link"/>
    <child link="thumb_module2_base_link"/>
    <axis xyz="1. 0. 0."/>
    <origin xyz="0.0 0.0 0.0" rpy="0.0 -0.0 0.0"/>
  </joint>
  <joint name="thumb_module2_joint1" type="revolute">
    <limit effort="0.0" velocity="0.0" lower="-0.698" upper="1.78"/>
    <parent link="thumb_module2_base_link"/>
    <child link="thumb_module2_link1"/>
    <axis xyz="-1.  0.  0."/>
    <origin xyz="0.0 0.0 0.04" rpy="0.0 -0.0 0.0"/>
  </joint>
  <joint name="thumb_module2_dummy_joint" type="fixed">
    <limit effort="0.0" velocity="0.0"/>
    <parent link="thumb_module2_link1"/>
    <child link="thumb_module2_dummy_link"/>
    <axis xyz="0. 0. 0."/>
    <origin xyz="0.0 0.0 0.033" rpy="0.0 -0.0 -1.57079632679492"/>
  </joint>
  <joint name="thumb_module2_dummy_link_to_thumb_module3_base_link_joint" type="fixed">
    <limit effort="0.0" velocity="0.0"/>
    <parent link="thumb_module2_dummy_link"/>
    <child link="thumb_module3_base_link"/>
    <axis xyz="1. 0. 0."/>
    <origin xyz="0.0 0.0 0.0" rpy="0.0 -0.0 1.5707963267948963"/>
  </joint>
  <joint name="thumb_module3_joint1" type="revolute">
    <limit effort="0.0" velocity="0.0" lower="-0.698" upper="1.78"/>
    <parent link="thumb_module3_base_link"/>
    <child link="thumb_module3_link1"/>
    <axis xyz="-1.  0.  0."/>
    <origin xyz="0.0 0.0 0.04" rpy="0.0 -0.0 0.0"/>
  </joint>
  <joint name="thumb_module3_dummy_joint" type="fixed">
    <limit effort="0.0" velocity="0.0"/>
    <parent link="thumb_module3_link1"/>
    <child link="thumb_module3_dummy_link"/>
    <axis xyz="0. 0. 0."/>
    <origin xyz="0.0 0.0 0.033" rpy="0.0 -0.0 -1.57079632679492"/>
  </joint>
  <joint name="thumb_module3_dummy_link_to_thumb_module4_base_link_joint" type="fixed">
    <limit effort="0.0" velocity="0.0"/>
    <parent link="thumb_module3_dummy_link"/>
    <child link="thumb_module4_base_link"/>
    <axis xyz="1. 0. 0."/>
    <origin xyz="0.0 0.0 0.0" rpy="0.0 -0.0 1.5707963267948963"/>
  </joint>
  <material name="__unnamed_material_1">
    <color rgba="0.29803922 0.29803922 0.29803922 1.        "/>
  </material>
  <material name="__unnamed_material_2">
    <color rgba="0.75294118 0.75294118 0.75294118 1.        "/>
  </material>
  <material name="__unnamed_material_3">
    <color rgba="0.75294118 0.75294118 0.75294118 1.        "/>
  </material>
  <material name="__unnamed_material_4">
    <color rgba="0.75294118 0.75294118 0.75294118 1.        "/>
  </material>
  <material name="__unnamed_material_5">
    <color rgba="0.75294118 0.75294118 0.75294118 1.        "/>
  </material>
  <material name="__unnamed_material_6">
    <color rgba="0.75294118 0.75294118 0.75294118 1.        "/>
  </material>
  <material name="little_module1___unnamed_material_1">
    <color rgba="0.75294118 0.75294118 0.75294118 1.        "/>
  </material>
  <material name="little_module1___unnamed_material_2">
    <color rgba="0.29803922 0.29803922 0.29803922 1.        "/>
  </material>
  <material name="little_module1___unnamed_material_3">
    <color rgba="0.75294118 0.75294118 0.75294118 1.        "/>
  </material>
  <material name="little_module1___unnamed_material_4">
    <color rgba="0.79215686 0.81960784 0.93333333 1.        "/>
  </material>
  <material name="little_module2___unnamed_material_1">
    <color rgba="0.75294118 0.75294118 0.75294118 1.        "/>
  </material>
  <material name="little_module2___unnamed_material_2">
    <color rgba="0.29803922 0.29803922 0.29803922 1.        "/>
  </material>
  <material name="little_module2___unnamed_material_3">
    <color rgba="0.79215686 0.81960784 0.93333333 1.        "/>
  </material>
  <material name="little_module3___unnamed_material_1">
    <color rgba="1.         0.6627451  0.54117647 1.        "/>
  </material>
  <material name="little_module3___unnamed_material_2">
    <color rgba="0.29803922 0.29803922 0.29803922 1.        "/>
  </material>
  <material name="little_module3___unnamed_material_3">
    <color rgba="0.79215686 0.81960784 0.93333333 1.        "/>
  </material>
  <material name="little_module4___unnamed_material_1">
    <color rgba="1.         0.6627451  0.54117647 1.        "/>
  </material>
  <material name="ring_module1___unnamed_material_1">
    <color rgba="0.75294118 0.75294118 0.75294118 1.        "/>
  </material>
  <material name="ring_module1___unnamed_material_2">
    <color rgba="0.29803922 0.29803922 0.29803922 1.        "/>
  </material>
  <material name="ring_module1___unnamed_material_3">
    <color rgba="0.75294118 0.75294118 0.75294118 1.        "/>
  </material>
  <material name="ring_module1___unnamed_material_4">
    <color rgba="0.79215686 0.81960784 0.93333333 1.        "/>
  </material>
  <material name="ring_module2___unnamed_material_1">
    <color rgba="0.75294118 0.75294118 0.75294118 1.        "/>
  </material>
  <material name="ring_module2___unnamed_material_2">
    <color rgba="0.29803922 0.29803922 0.29803922 1.        "/>
  </material>
  <material name="ring_module2___unnamed_material_3">
    <color rgba="0.79215686 0.81960784 0.93333333 1.        "/>
  </material>
  <material name="ring_module3___unnamed_material_1">
    <color rgba="1.         0.6627451  0.54117647 1.        "/>
  </material>
  <material name="ring_module3___unnamed_material_2">
    <color rgba="0.29803922 0.29803922 0.29803922 1.        "/>
  </material>
  <material name="ring_module3___unnamed_material_3">
    <color rgba="0.79215686 0.81960784 0.93333333 1.        "/>
  </material>
  <material name="ring_module4___unnamed_material_1">
    <color rgba="1.         0.6627451  0.54117647 1.        "/>
  </material>
  <material name="middle_module1___unnamed_material_1">
    <color rgba="0.75294118 0.75294118 0.75294118 1.        "/>
  </material>
  <material name="middle_module1___unnamed_material_2">
    <color rgba="0.29803922 0.29803922 0.29803922 1.        "/>
  </material>
  <material name="middle_module1___unnamed_material_3">
    <color rgba="0.75294118 0.75294118 0.75294118 1.        "/>
  </material>
  <material name="middle_module1___unnamed_material_4">
    <color rgba="0.79215686 0.81960784 0.93333333 1.        "/>
  </material>
  <material name="middle_module2___unnamed_material_1">
    <color rgba="0.75294118 0.75294118 0.75294118 1.        "/>
  </material>
  <material name="middle_module2___unnamed_material_2">
    <color rgba="0.29803922 0.29803922 0.29803922 1.        "/>
  </material>
  <material name="middle_module2___unnamed_material_3">
    <color rgba="0.79215686 0.81960784 0.93333333 1.        "/>
  </material>
  <material name="middle_module3___unnamed_material_1">
    <color rgba="1.         0.6627451  0.54117647 1.        "/>
  </material>
  <material name="middle_module3___unnamed_material_2">
    <color rgba="0.29803922 0.29803922 0.29803922 1.        "/>
  </material>
  <material name="middle_module3___unnamed_material_3">
    <color rgba="0.79215686 0.81960784 0.93333333 1.        "/>
  </material>
  <material name="middle_module4___unnamed_material_1">
    <color rgba="1.         0.6627451  0.54117647 1.        "/>
  </material>
  <material name="index_module1___unnamed_material_1">
    <color rgba="0.75294118 0.75294118 0.75294118 1.        "/>
  </material>
  <material name="index_module1___unnamed_material_2">
    <color rgba="0.29803922 0.29803922 0.29803922 1.        "/>
  </material>
  <material name="index_module1___unnamed_material_3">
    <color rgba="0.75294118 0.75294118 0.75294118 1.        "/>
  </material>
  <material name="index_module1___unnamed_material_4">
    <color rgba="0.79215686 0.81960784 0.93333333 1.        "/>
  </material>
  <material name="index_module2___unnamed_material_1">
    <color rgba="0.75294118 0.75294118 0.75294118 1.        "/>
  </material>
  <material name="index_module2___unnamed_material_2">
    <color rgba="0.29803922 0.29803922 0.29803922 1.        "/>
  </material>
  <material name="index_module2___unnamed_material_3">
    <color rgba="0.79215686 0.81960784 0.93333333 1.        "/>
  </material>
  <material name="index_module3___unnamed_material_1">
    <color rgba="1.         0.6627451  0.54117647 1.        "/>
  </material>
  <material name="index_module3___unnamed_material_2">
    <color rgba="0.29803922 0.29803922 0.29803922 1.        "/>
  </material>
  <material name="index_module3___unnamed_material_3">
    <color rgba="0.79215686 0.81960784 0.93333333 1.        "/>
  </material>
  <material name="index_module4___unnamed_material_1">
    <color rgba="1.         0.6627451  0.54117647 1.        "/>
  </material>
  <material name="thumb_module1___unnamed_material_1">
    <color rgba="0.29803922 0.29803922 0.29803922 1.        "/>
  </material>
  <material name="thumb_module1___unnamed_material_2">
    <color rgba="0.29803922 0.29803922 0.29803922 1.        "/>
  </material>
  <material name="thumb_module1___unnamed_material_3">
    <color rgba="0.79215686 0.81960784 0.93333333 1.        "/>
  </material>
  <material name="thumb_module2___unnamed_material_1">
    <color rgba="1.         0.6627451  0.54117647 1.        "/>
  </material>
  <material name="thumb_module2___unnamed_material_2">
    <color rgba="0.29803922 0.29803922 0.29803922 1.        "/>
  </material>
  <material name="thumb_module2___unnamed_material_3">
    <color rgba="0.79215686 0.81960784 0.93333333 1.        "/>
  </material>
  <material name="thumb_module3___unnamed_material_1">
    <color rgba="1.         0.6627451  0.54117647 1.        "/>
  </material>
  <material name="thumb_module3___unnamed_material_2">
    <color rgba="0.29803922 0.29803922 0.29803922 1.        "/>
  </material>
  <material name="thumb_module3___unnamed_material_3">
    <color rgba="0.79215686 0.81960784 0.93333333 1.        "/>
  </material>
  <material name="thumb_module4___unnamed_material_1">
    <color rgba="1.         0.6627451  0.54117647 1.        "/>
  </material>
</robot>
